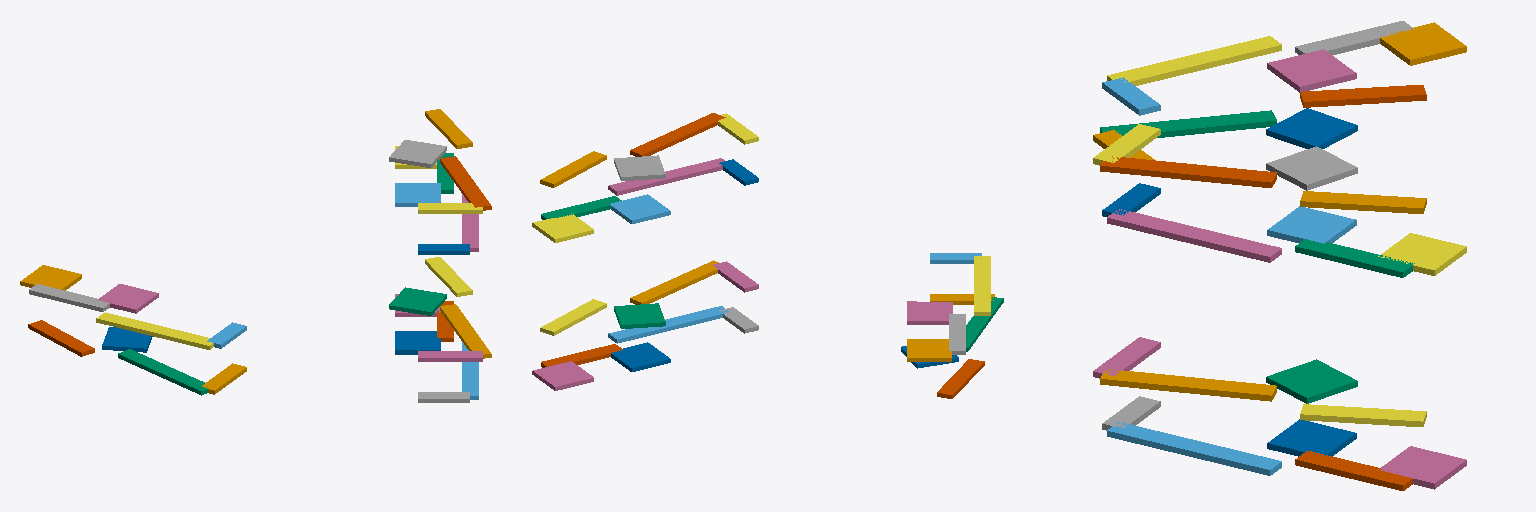
--- Render facts (derived) ---
The picture shows the robot from 3 angles, left to right: view 1: azimuth 30°, elevation 25°; view 2: azimuth 150°, elevation 25°; view 3: azimuth 270°, elevation 25°; orthographic projection.
Robot: ur5 — 51 links, 50 joints (45 revolute, 5 fixed); root link world; default pose: every joint at zero.
Links seen in each view (by area): view 1: r3f_finger_middle_link_paraproximal_bar, r3f_finger_middle_link_proximal_actuating_bar, r3f_finger_1_link_median_actuating_hinge, r3f_finger_2_link_median_actuating_hinge, r3f_finger_middle_link_paramedian_hinge, r3f_finger_2_link_proximal_actuating_bar, r3f_finger_2_link_paramedian_hinge, r3f_finger_1_link_proximal_actuating_bar, r3f_finger_1_link_paramedian_hinge, r3f_finger_middle_link_paradistal_hinge, r3f_finger_middle_link_median_bar_underactuated, r3f_finger_middle_link_median_actuating_hinge (+10 smaller); view 2: r3f_finger_1_link_paraproximal_bar, r3f_finger_2_link_paraproximal_bar, r3f_finger_2_link_proximal_actuating_bar, r3f_finger_1_link_proximal_actuating_bar, r3f_finger_1_link_paradistal_hinge, r3f_finger_2_link_paramedian_hinge, r3f_finger_2_link_paradistal_hinge, r3f_finger_1_link_paramedian_hinge, r3f_finger_2_link_median_actuating_hinge, r3f_finger_1_link_median_actuating_hinge, r3f_finger_middle_link_paramedian_hinge, r3f_finger_middle_link_paraproximal_bar (+10 smaller); view 3: r3f_finger_1_link_paraproximal_bar, r3f_finger_2_link_paraproximal_bar, r3f_finger_1_link_proximal_actuating_bar, r3f_finger_middle_link_paraproximal_bar, r3f_finger_2_link_proximal_actuating_bar, r3f_finger_2_link_median_actuating_hinge, r3f_finger_1_link_median_actuating_hinge, r3f_finger_middle_link_paramedian_hinge, r3f_finger_middle_link_median_actuating_hinge, r3f_finger_middle_link_paradistal_hinge, r3f_finger_middle_link_proximal_actuating_bar, r3f_finger_2_link_paramedian_hinge (+14 smaller).
Boxes of the visible links, x1,y1,x2,y2 form: r3f_finger_middle_link_paraproximal_bar: (96, 312, 213, 349); r3f_finger_middle_link_proximal_actuating_bar: (118, 349, 207, 395); r3f_finger_1_link_median_actuating_hinge: (389, 287, 446, 315); r3f_finger_2_link_median_actuating_hinge: (389, 140, 446, 167); r3f_finger_middle_link_paramedian_hinge: (98, 284, 158, 313); r3f_finger_2_link_proximal_actuating_bar: (440, 156, 491, 210); r3f_finger_2_link_paramedian_hinge: (395, 183, 440, 206); r3f_finger_1_link_proximal_actuating_bar: (440, 304, 491, 358); r3f_finger_1_link_paramedian_hinge: (395, 331, 440, 354); r3f_finger_middle_link_paradistal_hinge: (20, 265, 81, 290); r3f_finger_middle_link_median_bar_underactuated: (29, 284, 109, 311); r3f_finger_middle_link_median_actuating_hinge: (102, 327, 152, 352); r3f_finger_1_link_paraproximal_bar: (608, 306, 728, 343); r3f_finger_2_link_paraproximal_bar: (608, 158, 724, 195); r3f_finger_2_link_proximal_actuating_bar: (630, 113, 725, 156); r3f_finger_1_link_proximal_actuating_bar: (630, 260, 718, 304); r3f_finger_1_link_paradistal_hinge: (532, 361, 593, 390); r3f_finger_2_link_paramedian_hinge: (610, 194, 670, 223); r3f_finger_2_link_paradistal_hinge: (532, 213, 593, 242); r3f_finger_1_link_paramedian_hinge: (611, 342, 670, 371); r3f_finger_2_link_median_actuating_hinge: (614, 155, 665, 180); r3f_finger_1_link_median_actuating_hinge: (614, 303, 665, 328); r3f_finger_middle_link_paramedian_hinge: (907, 301, 952, 324); r3f_finger_middle_link_paraproximal_bar: (974, 256, 990, 315); r3f_finger_1_link_paraproximal_bar: (1107, 422, 1281, 475); r3f_finger_2_link_paraproximal_bar: (1107, 209, 1281, 262); r3f_finger_1_link_proximal_actuating_bar: (1100, 369, 1276, 401); r3f_finger_middle_link_paraproximal_bar: (1107, 36, 1281, 85); r3f_finger_2_link_proximal_actuating_bar: (1100, 156, 1276, 187); r3f_finger_2_link_median_actuating_hinge: (1266, 146, 1357, 190); r3f_finger_1_link_median_actuating_hinge: (1266, 359, 1357, 403); r3f_finger_middle_link_paramedian_hinge: (1267, 49, 1356, 92); r3f_finger_middle_link_median_actuating_hinge: (1266, 108, 1357, 148); r3f_finger_middle_link_paradistal_hinge: (1380, 22, 1466, 65); r3f_finger_middle_link_proximal_actuating_bar: (1100, 110, 1276, 137); r3f_finger_2_link_paramedian_hinge: (1267, 206, 1356, 243).
Size in the robot's own frame: 0.2168 by 0.1145 by 0.094 metres.
Meshes: 12 distinct files referenced, 0 mesh visuals loaded (none loaded); not drawn: 20 (reference not matched to a file when rendering).

URDF robot description (ur5):
<?xml version="1.0" encoding="utf-8"?>
<!-- =================================================================================== -->
<!-- |    This document was autogenerated by xacro from UR5_3f_2macro.xacro            | -->
<!-- |    EDITING THIS FILE BY HAND IS NOT RECOMMENDED                                 | -->
<!-- =================================================================================== -->
<robot name="ur5">
  <gazebo>
    <plugin filename="libgazebo_ros_control.so" name="ros_control">
      <!--robotNamespace>/</robotNamespace-->
      <!--robotSimType>gazebo_ros_control/DefaultRobotHWSim</robotSimType-->
    </plugin>
    <!--
    <plugin name="gazebo_ros_power_monitor_controller" filename="libgazebo_ros_power_monitor.so">
      <alwaysOn>true</alwaysOn>
      <updateRate>1.0</updateRate>
      <timeout>5</timeout>
      <powerStateTopic>power_state</powerStateTopic>
      <powerStateRate>10.0</powerStateRate>
      <fullChargeCapacity>87.78</fullChargeCapacity>     
      <dischargeRate>-474</dischargeRate>
      <chargeRate>525</chargeRate>
      <dischargeVoltage>15.52</dischargeVoltage>
      <chargeVoltage>16.41</chargeVoltage>
    </plugin>
-->
  </gazebo>
  <!-- measured from model -->
  <!--property name="shoulder_height" value="0.089159" /-->
  <!--property name="shoulder_offset" value="0.13585" /-->
  <!-- shoulder_offset - elbow_offset + wrist_1_length = 0.10915 -->
  <!--property name="upper_arm_length" value="0.42500" /-->
  <!--property name="elbow_offset" value="0.1197" /-->
  <!-- CAD measured -->
  <!--property name="forearm_length" value="0.39225" /-->
  <!--property name="wrist_1_length" value="0.093" /-->
  <!-- CAD measured -->
  <!--property name="wrist_2_length" value="0.09465" /-->
  <!-- In CAD this distance is 0.930, but in the spec it is 0.09465 -->
  <!--property name="wrist_3_length" value="0.0823" /-->
  <!-- manually measured -->
  <link name="base_link">
    <visual>
      <geometry>
        <mesh filename="package://ur_description/meshes/ur5/visual/base.dae"/>
      </geometry>
      <material name="LightGrey">
        <color rgba="0.7 0.7 0.7 1.0"/>
      </material>
    </visual>
    <collision>
      <geometry>
        <mesh filename="package://ur_description/meshes/ur5/collision/base.stl"/>
      </geometry>
    </collision>
    <inertial>
      <mass value="4.0"/>
      <origin rpy="0 0 0" xyz="0.0 0.0 0.0"/>
      <inertia ixx="0.00443333156" ixy="0.0" ixz="0.0" iyy="0.00443333156" iyz="0.0" izz="0.0072"/>
    </inertial>
  </link>
  <joint name="shoulder_pan_joint" type="revolute">
    <parent link="base_link"/>
    <child link="shoulder_link"/>
    <origin rpy="0.0 0.0 0.0" xyz="0.0 0.0 0.089159"/>
    <axis xyz="0 0 1"/>
    <limit effort="150.0" lower="-6.28318530718" upper="6.28318530718" velocity="3.15"/>
    <dynamics damping="0.0" friction="0.0"/>
  </joint>
  <link name="shoulder_link">
    <visual>
      <geometry>
        <mesh filename="package://ur_description/meshes/ur5/visual/shoulder.dae"/>
      </geometry>
      <material name="LightGrey">
        <color rgba="0.7 0.7 0.7 1.0"/>
      </material>
    </visual>
    <collision>
      <geometry>
        <mesh filename="package://ur_description/meshes/ur5/collision/shoulder.stl"/>
      </geometry>
    </collision>
    <inertial>
      <mass value="3.7"/>
      <origin rpy="0 0 0" xyz="0.0 0.0 0.0"/>
      <inertia ixx="0.010267495893" ixy="0.0" ixz="0.0" iyy="0.010267495893" iyz="0.0" izz="0.00666"/>
    </inertial>
  </link>
  <joint name="shoulder_lift_joint" type="revolute">
    <parent link="shoulder_link"/>
    <child link="upper_arm_link"/>
    <origin rpy="0.0 1.57079632679 0.0" xyz="0.0 0.13585 0.0"/>
    <axis xyz="0 1 0"/>
    <limit effort="150.0" lower="-6.28318530718" upper="6.28318530718" velocity="3.15"/>
    <dynamics damping="0.0" friction="0.0"/>
  </joint>
  <link name="upper_arm_link">
    <visual>
      <geometry>
        <mesh filename="package://ur_description/meshes/ur5/visual/upperarm.dae"/>
      </geometry>
      <material name="LightGrey">
        <color rgba="0.7 0.7 0.7 1.0"/>
      </material>
    </visual>
    <collision>
      <geometry>
        <mesh filename="package://ur_description/meshes/ur5/collision/upperarm.stl"/>
      </geometry>
    </collision>
    <inertial>
      <mass value="8.393"/>
      <origin rpy="0 0 0" xyz="0.0 0.0 0.28"/>
      <inertia ixx="0.22689067591" ixy="0.0" ixz="0.0" iyy="0.22689067591" iyz="0.0" izz="0.0151074"/>
    </inertial>
  </link>
  <joint name="elbow_joint" type="revolute">
    <parent link="upper_arm_link"/>
    <child link="forearm_link"/>
    <origin rpy="0.0 0.0 0.0" xyz="0.0 -0.1197 0.425"/>
    <axis xyz="0 1 0"/>
    <limit effort="150.0" lower="-3.14159265359" upper="3.14159265359" velocity="3.15"/>
    <dynamics damping="0.0" friction="0.0"/>
  </joint>
  <link name="forearm_link">
    <visual>
      <geometry>
        <mesh filename="package://ur_description/meshes/ur5/visual/forearm.dae"/>
      </geometry>
      <material name="LightGrey">
        <color rgba="0.7 0.7 0.7 1.0"/>
      </material>
    </visual>
    <collision>
      <geometry>
        <mesh filename="package://ur_description/meshes/ur5/collision/forearm.stl"/>
      </geometry>
    </collision>
    <inertial>
      <mass value="2.275"/>
      <origin rpy="0 0 0" xyz="0.0 0.0 0.196125"/>
      <inertia ixx="0.0312167910289" ixy="0.0" ixz="0.0" iyy="0.0312167910289" iyz="0.0" izz="0.004095"/>
    </inertial>
  </link>
  <joint name="wrist_1_joint" type="revolute">
    <parent link="forearm_link"/>
    <child link="wrist_1_link"/>
    <origin rpy="0.0 1.57079632679 0.0" xyz="0.0 0.0 0.39225"/>
    <axis xyz="0 1 0"/>
    <limit effort="28.0" lower="-6.28318530718" upper="6.28318530718" velocity="3.2"/>
    <dynamics damping="0.0" friction="0.0"/>
  </joint>
  <link name="wrist_1_link">
    <visual>
      <geometry>
        <mesh filename="package://ur_description/meshes/ur5/visual/wrist1.dae"/>
      </geometry>
      <material name="LightGrey">
        <color rgba="0.7 0.7 0.7 1.0"/>
      </material>
    </visual>
    <collision>
      <geometry>
        <mesh filename="package://ur_description/meshes/ur5/collision/wrist1.stl"/>
      </geometry>
    </collision>
    <inertial>
      <mass value="1.219"/>
      <origin rpy="0 0 0" xyz="0.0 0.093 0.0"/>
      <inertia ixx="0.00255989897604" ixy="0.0" ixz="0.0" iyy="0.00255989897604" iyz="0.0" izz="0.0021942"/>
    </inertial>
  </link>
  <joint name="wrist_2_joint" type="revolute">
    <parent link="wrist_1_link"/>
    <child link="wrist_2_link"/>
    <origin rpy="0.0 0.0 0.0" xyz="0.0 0.093 0.0"/>
    <axis xyz="0 0 1"/>
    <limit effort="28.0" lower="-6.28318530718" upper="6.28318530718" velocity="3.2"/>
    <dynamics damping="0.0" friction="0.0"/>
  </joint>
  <link name="wrist_2_link">
    <visual>
      <geometry>
        <mesh filename="package://ur_description/meshes/ur5/visual/wrist2.dae"/>
      </geometry>
      <material name="LightGrey">
        <color rgba="0.7 0.7 0.7 1.0"/>
      </material>
    </visual>
    <collision>
      <geometry>
        <mesh filename="package://ur_description/meshes/ur5/collision/wrist2.stl"/>
      </geometry>
    </collision>
    <inertial>
      <mass value="1.219"/>
      <origin rpy="0 0 0" xyz="0.0 0.0 0.09465"/>
      <inertia ixx="0.00255989897604" ixy="0.0" ixz="0.0" iyy="0.00255989897604" iyz="0.0" izz="0.0021942"/>
    </inertial>
  </link>
  <joint name="wrist_3_joint" type="revolute">
    <parent link="wrist_2_link"/>
    <child link="wrist_3_link"/>
    <origin rpy="0.0 0.0 0.0" xyz="0.0 0.0 0.09465"/>
    <axis xyz="0 1 0"/>
    <limit effort="28.0" lower="-6.28318530718" upper="6.28318530718" velocity="3.2"/>
    <dynamics damping="0.0" friction="0.0"/>
  </joint>
  <link name="wrist_3_link">
    <visual>
      <geometry>
        <mesh filename="package://ur_description/meshes/ur5/visual/wrist3.dae"/>
      </geometry>
      <material name="LightGrey">
        <color rgba="0.7 0.7 0.7 1.0"/>
      </material>
    </visual>
    <collision>
      <geometry>
        <mesh filename="package://ur_description/meshes/ur5/collision/wrist3.stl"/>
      </geometry>
    </collision>
    <inertial>
      <mass value="0.1879"/>
      <origin rpy="1.57079632679 0 0" xyz="0.0 0.06505 0.0"/>
      <inertia ixx="8.46958911216e-05" ixy="0.0" ixz="0.0" iyy="8.46958911216e-05" iyz="0.0" izz="0.0001321171875"/>
    </inertial>
  </link>
  <joint name="ee_fixed_joint" type="fixed">
    <parent link="wrist_3_link"/>
    <child link="ee_link"/>
    <origin rpy="0.0 0.0 1.57079632679" xyz="0.0 0.0823 0.0"/>
  </joint>
  <link name="ee_link">
    <collision>
      <geometry>
        <box size="0.01 0.01 0.01"/>
      </geometry>
      <origin rpy="0 0 0" xyz="-0.01 0 0"/>
    </collision>
  </link>
  <transmission name="shoulder_pan_trans">
    <type>transmission_interface/SimpleTransmission</type>
    <joint name="shoulder_pan_joint">
      <hardwareInterface>hardware_interface/PositionJointInterface</hardwareInterface>
    </joint>
    <actuator name="shoulder_pan_motor">
      <mechanicalReduction>1</mechanicalReduction>
    </actuator>
  </transmission>
  <transmission name="shoulder_lift_trans">
    <type>transmission_interface/SimpleTransmission</type>
    <joint name="shoulder_lift_joint">
      <hardwareInterface>hardware_interface/PositionJointInterface</hardwareInterface>
    </joint>
    <actuator name="shoulder_lift_motor">
      <mechanicalReduction>1</mechanicalReduction>
    </actuator>
  </transmission>
  <transmission name="elbow_trans">
    <type>transmission_interface/SimpleTransmission</type>
    <joint name="elbow_joint">
      <hardwareInterface>hardware_interface/PositionJointInterface</hardwareInterface>
    </joint>
    <actuator name="elbow_motor">
      <mechanicalReduction>1</mechanicalReduction>
    </actuator>
  </transmission>
  <transmission name="wrist_1_trans">
    <type>transmission_interface/SimpleTransmission</type>
    <joint name="wrist_1_joint">
      <hardwareInterface>hardware_interface/PositionJointInterface</hardwareInterface>
    </joint>
    <actuator name="wrist_1_motor">
      <mechanicalReduction>1</mechanicalReduction>
    </actuator>
  </transmission>
  <transmission name="wrist_2_trans">
    <type>transmission_interface/SimpleTransmission</type>
    <joint name="wrist_2_joint">
      <hardwareInterface>hardware_interface/PositionJointInterface</hardwareInterface>
    </joint>
    <actuator name="wrist_2_motor">
      <mechanicalReduction>1</mechanicalReduction>
    </actuator>
  </transmission>
  <transmission name="wrist_3_trans">
    <type>transmission_interface/SimpleTransmission</type>
    <joint name="wrist_3_joint">
      <hardwareInterface>hardware_interface/PositionJointInterface</hardwareInterface>
    </joint>
    <actuator name="wrist_3_motor">
      <mechanicalReduction>1</mechanicalReduction>
    </actuator>
  </transmission>
  <gazebo reference="shoulder_link">
    <selfCollide>true</selfCollide>
  </gazebo>
  <gazebo reference="upper_arm_link">
    <selfCollide>true</selfCollide>
  </gazebo>
  <gazebo reference="forearm_link">
    <selfCollide>true</selfCollide>
  </gazebo>
  <gazebo reference="wrist_1_link">
    <selfCollide>true</selfCollide>
  </gazebo>
  <gazebo reference="wrist_3_link">
    <selfCollide>true</selfCollide>
  </gazebo>
  <gazebo reference="wrist_2_link">
    <selfCollide>true</selfCollide>
  </gazebo>
  <gazebo reference="ee_link">
    <selfCollide>true</selfCollide>
  </gazebo>
  <!-- ROS base_link to UR 'Base' Coordinates transform -->
  <link name="base"/>
  <joint name="base_link-base_fixed_joint" type="fixed">
    <!-- NOTE: this rotation is only needed as long as base_link itself is
                 not corrected wrt the real robot (ie: rotated over 180
                 degrees)
      -->
    <origin rpy="0 0 -3.14159265359" xyz="0 0 0"/>
    <parent link="base_link"/>
    <child link="base"/>
  </joint>
  <!-- Frame coincident with all-zeros TCP on UR controller -->
  <link name="tool0"/>
  <joint name="wrist_3_link-tool0_fixed_joint" type="fixed">
    <origin rpy="-1.57079632679 0 0" xyz="0 0.0823 0"/>
    <parent link="wrist_3_link"/>
    <child link="tool0"/>
  </joint>
  <!-- joint attaching parent link to robotiq hand -->
  <joint name="r3f_robotiq_hand_joint" type="fixed">
    <origin rpy="1.57079632679 0 0" xyz="0 0 0.05"/>
    <parent link="tool0"/>
    <child link="r3f_palm"/>
  </joint>
  <!-- Link list -->
  <!-- Link 0 -->
  <link name="r3f_finger_1_link_0">
    <visual>
      <origin rpy="0 0 0" xyz="0 0 0"/>
      <geometry>
        <mesh filename="package://robotiq_3f_gripper_visualization/meshes/robotiq-3f-gripper_articulated/visual/link_0.dae"/>
      </geometry>
      <material name="green">
        <color rgba="0 1 0 1"/>
      </material>
    </visual>
    <collision>
      <origin rpy="0 0 0" xyz="0 0 0"/>
      <geometry>
        <mesh filename="package://robotiq_3f_gripper_visualization/meshes/robotiq-3f-gripper_articulated/collision/link_0.STL"/>
      </geometry>
      <material name="yellow">
        <color rgba="0 1 1 1"/>
      </material>
    </collision>
    <inertial>
      <mass value="0.1"/>
      <origin xyz="-0.01 0 0"/>
      <inertia ixx="0.000018" ixy="0" ixz="0" iyy="0.000025" iyz="0" izz="0.000025"/>
    </inertial>
  </link>
  <gazebo reference="r3f_finger_1_link_0">
    <mu1>1.1</mu1>
    <mu2>1.1</mu2>
  </gazebo>
  <!-- Link 1 -->
  <link name="r3f_finger_1_link_1">
    <visual>
      <origin rpy="0 0 1.5708" xyz="0 0.05717 0"/>
      <geometry>
        <mesh filename="package://robotiq_3f_gripper_visualization/meshes/robotiq-3f-gripper_articulated/visual/link_1.dae"/>
      </geometry>
      <material name="green"/>
    </visual>
    <collision>
      <origin rpy="0 0 1.5708" xyz="0 0.05717 0"/>
      <geometry>
        <mesh filename="package://robotiq_3f_gripper_visualization/meshes/robotiq-3f-gripper_articulated/collision/link_1.STL"/>
      </geometry>
      <material name="yellow">
        <color rgba="0 1 1 1"/>
      </material>
    </collision>
    <inertial>
      <origin rpy="0 0 1.5708" xyz="0.00053 0.03218 0"/>
      <mass value="0.047"/>
      <inertia ixx="0.00000499332" ixy="0.00000091312" ixz="-0.00000000120" iyy="0.00006434531" iyz="-0.00000000007" izz="0.00006061917"/>
    </inertial>
  </link>
  <gazebo reference="r3f_finger_1_link_1">
    <mu1>1.1</mu1>
    <mu2>1.1</mu2>
  </gazebo>
  <!-- Link 2 -->
  <link name="r3f_finger_1_link_2">
    <visual>
      <origin rpy="0 0 1.5708" xyz="0 0.03810 0.0075"/>
      <geometry>
        <mesh filename="package://robotiq_3f_gripper_visualization/meshes/robotiq-3f-gripper_articulated/visual/link_2.dae"/>
      </geometry>
      <material name="green"/>
    </visual>
    <collision>
      <origin rpy="0 0 1.5708" xyz="0 0.03810 0.0075"/>
      <geometry>
        <mesh filename="package://robotiq_3f_gripper_visualization/meshes/robotiq-3f-gripper_articulated/collision/link_2.STL"/>
      </geometry>
      <material name="yellow"/>
    </collision>
    <inertial>
      <origin rpy="0 0 1.5708" xyz="0.00048 0.02167 0.00018"/>
      <mass value="0.03284"/>
      <inertia ixx="0.00000348008" ixy="0.00000031940" ixz="0.00000013041" iyy="0.00002248123" iyz="0.00000000291" izz="0.00001986346"/>
    </inertial>
  </link>
  <gazebo reference="r3f_finger_1_link_2">
    <mu1>1.1</mu1>
    <mu2>1.1</mu2>
  </gazebo>
  <!-- Link 3 -->
  <link name="r3f_finger_1_link_3">
    <visual>
      <origin rpy="0 0 0" xyz="0 0 0"/>
      <geometry>
        <mesh filename="package://robotiq_3f_gripper_visualization/meshes/robotiq-3f-gripper_articulated/visual/link_3.dae"/>
      </geometry>
      <material name="green"/>
    </visual>
    <collision>
      <origin rpy="0 0 0" xyz="0 0 0"/>
      <geometry>
        <mesh filename="package://robotiq_3f_gripper_visualization/meshes/robotiq-3f-gripper_articulated/collision/link_3.STL"/>
      </geometry>
      <material name="yellow"/>
    </collision>
    <inertial>
      <origin rpy="0 0 0" xyz="0.01626 0.00049 0.0002"/>
      <mass value="0.03354"/>
      <inertia ixx="0.00000305151" ixy="0.00000089792" ixz="0.00000000249" iyy="0.00001427978" iyz="-0.00000001191" izz="0.00001264126"/>
    </inertial>
  </link>
  <gazebo reference="r3f_finger_1_link_3">
    <mu1>1.1</mu1>
    <mu2>1.1</mu2>
  </gazebo>
  <!-- Link proximal actuating hinge -->
  <link name="r3f_finger_1_link_proximal_actuating_hinge">
    <visual>
      <origin rpy="0 0 0" xyz="0.01429 0 0"/>
      <geometry>
        <box size="0.02858 .0075 .002"/>
      </geometry>
    </visual>
    <collision>
      <origin rpy="0 0 0" xyz="0.01429 0 0"/>
      <geometry>
        <box size="0.02858 .0075 .002"/>
      </geometry>
    </collision>
    <inertial>
      <origin rpy="0 0 0" xyz="0.0012 -0.00162 -0.00161"/>
      <mass value="0.02647"/>
      <inertia ixx="0.00000156447" ixy="0.000000236226" ixz="-0.00000014862" iyy="0.00000221068" iyz="-0.00000014369" izz="0.00000323175"/>
    </inertial>
  </link>
  <gazebo reference="r3f_finger_1_link_proximal_actuating_hinge">
    <mu1>1.1</mu1>
    <mu2>1.1</mu2>
  </gazebo>
  <!-- Link paraproximal actuating hinge -->
  <link name="r3f_finger_1_link_paraproximal_actuating_hinge">
    <visual>
      <origin rpy="0 0 0" xyz="0.01143 0 0"/>
      <geometry>
        <box size="0.02286 .0075 .002"/>
      </geometry>
    </visual>
    <collision>
      <origin rpy="0 0 0" xyz="0.01143 0 0"/>
      <geometry>
        <box size="0.02286 .0075 .002"/>
      </geometry>
    </collision>
    <inertial>
      <origin rpy="0 0 0" xyz="0.0064 0 0"/>
      <!-- copied from proximal_actuating_hinge -->
      <mass value="0.00362"/>
      <inertia ixx="0.00000012043" ixy="0" ixz="0" iyy="0.00000053588" iyz="0" izz="0.00000065322"/>
    </inertial>
  </link>
  <gazebo reference="r3f_finger_1_link_paraproximal_actuating_hinge">
    <mu1>1.1</mu1>
    <mu2>1.1</mu2>
  </gazebo>
  <!-- Link proximal actuating bar -->
  <link name="r3f_finger_1_link_proximal_actuating_bar">
    <visual>
      <origin rpy="0 0 0" xyz="0.026789 0 0"/>
      <geometry>
        <box size="0.05398 .0075 .002"/>
      </geometry>
    </visual>
    <collision>
      <origin rpy="0 0 0" xyz="0.026789 0 0"/>
      <geometry>
        <box size="0.05398 .0075 .002"/>
      </geometry>
    </collision>
    <inertial>
      <origin rpy="0 0 0" xyz="0.02699 -0.00122 0"/>
      <mass value="0.00659"/>
      <inertia ixx="0.00000008348" ixy="-0.0000002179" ixz="0.00000000134" iyy="0.00000719076" iyz="0" izz="0.00000718272"/>
    </inertial>
  </link>
  <gazebo reference="r3f_finger_1_link_proximal_actuating_bar">
    <mu1>1.1</mu1>
    <mu2>1.1</mu2>
  </gazebo>
  <!-- Link paraproximal bar -->
  <link name="r3f_finger_1_link_paraproximal_bar">
    <visual>
      <origin rpy="0 0 0" xyz="0.02885 0 0"/>
      <geometry>
        <box size="0.05770 .0075 .002"/>
      </geometry>
    </visual>
    <collision>
      <origin rpy="0 0 0" xyz="0.02885 0 0"/>
      <geometry>
        <box size="0.05770 .0075 .002"/>
      </geometry>
    </collision>
    <inertial>
      <origin rpy="0 0 0" xyz="0.02858 -0.00129 0"/>
      <mass value="0.00732"/>
      <inertia ixx="0.00000009065" ixy="-0.00000027047" ixz="0.00000000142" iyy="0.00000878034" iyz="0" izz="0.00000877558"/>
    </inertial>
  </link>
  <gazebo reference="r3f_finger_1_link_paraproximal_bar">
    <mu1>1.1</mu1>
    <mu2>1.1</mu2>
  </gazebo>
  <!-- Link median actuating hinge -->
  <link name="r3f_finger_1_link_median_actuating_hinge">
    <visual>
      <origin rpy="0 0 0" xyz="0 0 0"/>
      <geometry>
        <box size=".02 .02 .002"/>
      </geometry>
    </visual>
    <collision>
      <origin rpy="0 0 0" xyz="0 0 0"/>
      <geometry>
        <box size=".02 .02 .002"/>
      </geometry>
    </collision>
    <inertial>
      <origin rpy="0 0 0" xyz="0.0092 0.00514 0"/>
      <mass value="0.00359"/>
      <inertia ixx="0.00000024735" ixy="0.00000023619" ixz="0" iyy="0.00000047681" iyz="0" izz="0.00000071813"/>
    </inertial>
  </link>
  <gazebo reference="r3f_finger_1_link_median_actuating_hinge">
    <mu1>1.1</mu1>
    <mu2>1.1</mu2>
  </gazebo>
  <!-- Link median bar -->
  <link name="r3f_finger_1_link_median_bar">
    <visual>
      <origin rpy="0 0 0" xyz="0.01905 0 0"/>
      <geometry>
        <box size="0.0381 .0075 .002"/>
      </geometry>
    </visual>
    <collision>
      <origin rpy="0 0 0" xyz="0.01905 0 0"/>
      <geometry>
        <box size="0.0381 .0075 .002"/>
      </geometry>
    </collision>
    <inertial>
      <origin rpy="0 0 0" xyz="0.01905 -0.00107 0"/>
      <mass value="0.00538"/>
      <inertia ixx="0.00000006639" ixy="-0.00000010996" ixz="0.00000000094" iyy="0.00000305318" iyz="0" izz="0.00000304657"/>
    </inertial>
  </link>
  <gazebo reference="r3f_finger_1_link_median_bar">
    <mu1>1.1</mu1>
    <mu2>1.1</mu2>
  </gazebo>
  <!-- Link paramedian hinge -->
  <link name="r3f_finger_1_link_paramedian_hinge">
    <visual>
      <origin rpy="0 0 0" xyz="0 0 0"/>
      <geometry>
        <box size=".02 .02 .002"/>
      </geometry>
    </visual>
    <collision>
      <origin rpy="0 0 0" xyz="0 0 0"/>
      <geometry>
        <box size=".02 .02 .002"/>
      </geometry>
    </collision>
    <inertial>
      <origin rpy="0 0 0" xyz="-0.01025 0.00046 0"/>
      <mass value="0.00276"/>
      <inertia ixx="0.00000004213" ixy="-0.00000001491" ixz="0" iyy="0.00000050258" iyz="0" izz="0.00000054007"/>
    </inertial>
  </link>
  <gazebo reference="r3f_finger_1_link_paramedian_hinge">
    <mu1>1.1</mu1>
    <mu2>1.1</mu2>
  </gazebo>
  <!-- Link median bar underactuated -->
  <link name="r3f_finger_1_link_median_bar_underactuated">
    <visual>
      <origin rpy="0 0 0" xyz="0.01905 0 0"/>
      <geometry>
        <box size="0.0381 .0075 .002"/>
      </geometry>
    </visual>
    <collision>
      <origin rpy="0 0 0" xyz="0.01905 0 0"/>
      <geometry>
        <box size="0.0381 .0075 .002"/>
      </geometry>
    </collision>
    <inertial>
      <origin rpy="0 0 0" xyz="0.01905 -0.00107 0"/>
      <mass value="0.00538"/>
      <inertia ixx="0.00000006639" ixy="-0.00000010996" ixz="-0.00000000094" iyy="0.00000305318" iyz="0" izz="0.00000304657"/>
    </inertial>
  </link>
  <gazebo reference="r3f_finger_1_link_median_bar_underactuated">
    <mu1>1.1</mu1>
    <mu2>1.1</mu2>
  </gazebo>
  <!-- Link paradistal hinge -->
  <link name="r3f_finger_1_link_paradistal_hinge">
    <visual>
      <origin rpy="0 0 0" xyz="0 0 0"/>
      <geometry>
        <box size=".02 .02 .002"/>
      </geometry>
    </visual>
    <collision>
      <origin rpy="0 0 0" xyz="0 0 0"/>
      <geometry>
        <box size=".02 0.02 .002"/>
      </geometry>
    </collision>
    <inertial>
      <origin rpy="0 0 0" xyz="0.00548 0 0"/>
      <mass value="0.00158"/>
      <inertia ixx="0.00000001907" ixy="0" ixz="0" iyy="0.00000010970" iyz="0" izz="0.00000012610"/>
    </inertial>
  </link>
  <gazebo reference="r3f_finger_1_link_paradistal_hinge">
    <mu1>1.1</mu1>
    <mu2>1.1</mu2>
  </gazebo>
  <!-- End of link list -->
  <!-- Joint list -->
  <!-- Joint proximal actuating hinge -->
  <joint name="r3f_finger_1_joint_proximal_actuating_hinge" type="revolute">
    <parent link="r3f_finger_1_link_0"/>
    <child link="r3f_finger_1_link_proximal_actuating_hinge"/>
    <axis xyz="0 0 1"/>
    <origin rpy="0 0 -2.0906" xyz="0 0 0.01"/>
    <limit effort="100" lower="-3.1416" upper="3.1416" velocity="100"/>
  </joint>
  <gazebo reference="r3f_finger_1_joint_proximal_actuating_hinge">
    <implicitSpringDamper>1</implicitSpringDamper>
  </gazebo>
  <!-- Joint paraproximal actuating hinge -->
  <joint name="r3f_finger_1_joint_paraproximal_actuating_hinge" type="revolute">
    <parent link="r3f_finger_1_link_0"/>
    <child link="r3f_finger_1_link_paraproximal_actuating_hinge"/>
    <axis xyz="0 0 1"/>
    <origin rpy="0 0 -2.0906" xyz="0 0 -0.01"/>
    <limit effort="100" lower="-3.1416" upper="3.1416" velocity="100"/>
  </joint>
  <gazebo reference="r3f_finger_1_joint_paraproximal_actuating_hinge">
    <implicitSpringDamper>1</implicitSpringDamper>
  </gazebo>
  <!-- Joint proximal actuating bar -->
  <joint name="r3f_finger_1_joint_proximal_actuating_bar" type="revolute">
    <parent link="r3f_finger_1_link_proximal_actuating_hinge"/>
    <child link="r3f_finger_1_link_proximal_actuating_bar"/>
    <axis xyz="0 0 1"/>
    <origin rpy="0 0 1.8616" xyz="0.02858 0 0"/>
    <limit effort="100" lower="-3.1416" upper="3.1416" velocity="100"/>
  </joint>
  <gazebo reference="r3f_finger_1_joint_proximal_actuating_bar">
    <implicitSpringDamper>1</implicitSpringDamper>
  </gazebo>
  <!-- Joint paraproximal bar -->
  <joint name="r3f_finger_1_joint_paraproximal_bar" type="revolute">
    <parent link="r3f_finger_1_link_paraproximal_actuating_hinge"/>
    <child link="r3f_finger_1_link_paraproximal_bar"/>
    <axis xyz="0 0 1"/>
    <origin rpy="0 0 1.57" xyz="0.02286 0 0"/>
    <limit effort="100" lower="-3.1416" upper="3.1416" velocity="100"/>
  </joint>
  <gazebo reference="r3f_finger_1_joint_paraproximal_bar">
    <implicitSpringDamper>1</implicitSpringDamper>
  </gazebo>
  <!-- Joint median actuating hinge -->
  <joint name="r3f_finger_1_joint_median_actuating_hinge" type="revolute">
    <parent link="r3f_finger_1_link_1"/>
    <child link="r3f_finger_1_link_median_actuating_hinge"/>
    <axis xyz="0 0 1"/>
    <origin rpy="0 0 -0.37" xyz="0 0.05715 0.01"/>
    <limit effort="100" lower="-3.1416" upper="3.1416" velocity="100"/>
  </joint>
  <gazebo reference="r3f_finger_1_joint_median_actuating_hinge">
    <implicitSpringDamper>1</implicitSpringDamper>
  </gazebo>
  <!-- Joint paramedian hinge -->
  <joint name="r3f_finger_1_joint_paramedian_hinge" type="revolute">
    <parent link="r3f_finger_1_link_1"/>
    <child link="r3f_finger_1_link_paramedian_hinge"/>
    <axis xyz="0 0 1"/>
    <!-- -0.37 is hand picked, 0.9719 is hand calculated from atan(0.02381/0.01625) -->
    <origin rpy="0 0 0" xyz="0 0.05715 -0.01"/>
    <limit effort="100" lower="-3.1416" upper="3.1416" velocity="100"/>
  </joint>
  <gazebo reference="r3f_finger_1_joint_paramedian_hinge">
    <implicitSpringDamper>1</implicitSpringDamper>
  </gazebo>
  <!-- Joint median actuating hinge median bar -->
  <joint name="r3f_finger_1_joint_median_actuating_hinge_median_bar" type="revolute">
    <parent link="r3f_finger_1_link_median_actuating_hinge"/>
    <child link="r3f_finger_1_link_median_bar"/>
    <axis xyz="0 0 1"/>
    <!-- hand calc 90 deg + atan(0.01516/0.01625) -->
    <origin rpy="0 0 2.3215" xyz="0.01625 0.01516 0"/>
    <limit effort="100" lower="-3.1416" upper="3.1416" velocity="100"/>
  </joint>
  <gazebo reference="r3f_finger_1_joint_median_actuating_hinge_median_bar">
    <implicitSpringDamper>1</implicitSpringDamper>
  </gazebo>
  <!-- Joint paradistal hinge -->
  <joint name="r3f_finger_1_joint_paradistal_hinge" type="revolute">
    <parent link="r3f_finger_1_link_2"/>
    <child link="r3f_finger_1_link_paradistal_hinge"/>
    <axis xyz="0 0 1"/>
    <origin rpy="0 0 0" xyz="0 0.039 -0.01"/>
    <limit effort="100" lower="-3.1416" upper="3.1416" velocity="100"/>
  </joint>
  <gazebo reference="r3f_finger_1_joint_paradistal_hinge">
    <implicitSpringDamper>1</implicitSpringDamper>
  </gazebo>
  <!-- Joint paramedian hinge median bar underactuated -->
  <joint name="r3f_finger_1_joint_paramedian_hinge_median_bar_underactuated" type="revolute">
    <parent link="r3f_finger_1_link_paramedian_hinge"/>
    <child link="r3f_finger_1_link_median_bar_underactuated"/>
    <axis xyz="0 0 1"/>
    <!-- hand calc 90 deg + atan(0.01227/0.00329) -->
    <origin rpy="0 0 1.5708" xyz="0.01227 0.00329 0"/>
    <limit effort="100" lower="-3.1416" upper="3.1416" velocity="100"/>
  </joint>
  <gazebo reference="r3f_finger_1_joint_paramedian_hinge_median_bar_underactuated">
    <implicitSpringDamper>1</implicitSpringDamper>
  </gazebo>
  <!-- Joint 1 -->
  <joint name="r3f_finger_1_joint_1" type="revolute">
    <origin rpy="0 0 -2.0906" xyz="0 0 0"/>
    <axis xyz="0 0 1"/>
    <parent link="r3f_finger_1_link_0"/>
    <child link="r3f_finger_1_link_1"/>
    <dynamics damping="1" friction="0"/>
    <!-- Limits: [0deg.,70deg.] -->
    <limit effort="60" lower="0" upper="1.2217" velocity="-1"/>
  </joint>
  <gazebo reference="r3f_finger_1_joint_1">
    <implicitSpringDamper>1</implicitSpringDamper>
  </gazebo>
  <!-- Joint 2 -->
  <joint name="r3f_finger_1_joint_2" type="revolute">
    <parent link="r3f_finger_1_link_1"/>
    <child link="r3f_finger_1_link_2"/>
    <dynamics damping="1" friction="0"/>
    <axis xyz="0 0 1"/>
    <origin rpy="0 0 0" xyz="0 0.05715 0"/>
    <!-- Limits: [0deg.,90deg.] -->
    <limit effort="60" lower="0" upper="1.5708" velocity="-1"/>
  </joint>
  <gazebo reference="r3f_finger_1_joint_2">
    <implicitSpringDamper>1</implicitSpringDamper>
  </gazebo>
  <!-- Joint 3 -->
  <joint name="r3f_finger_1_joint_3" type="revolute">
    <parent link="r3f_finger_1_link_2"/>
    <child link="r3f_finger_1_link_3"/>
    <dynamics damping="1" friction="0"/>
    <axis xyz="0 0 1"/>
    <origin rpy="0 0 2.0906" xyz="0 0.039 0"/>
    <!-- Limits: [-38deg.,60deg.] -->
    <limit effort="60" lower="-0.6632" upper="1.0471" velocity="-1"/>
  </joint>
  <gazebo reference="r3f_finger_1_joint_3">
    <implicitSpringDamper>1</implicitSpringDamper>
  </gazebo>
  <!-- end of joint list -->
  <!-- coupling joints in sdf -->
  <gazebo>
    <joint name="r3f_finger_1_link_proximal_actuating_bar_median_actuating_hinge_couple" type="revolute">
      <parent>r3f_finger_1_link_median_actuating_hinge</parent>
      <child>r3f_finger_1_link_proximal_actuating_bar</child>
      <pose>0.05398 0 0 0 0 0</pose>
      <axis>
        <dynamics>
          <damping>0</damping>
          <friction>0</friction>
        </dynamics>
        <xyz>0 0 1</xyz>
        <!-- <use_parent_model_frame>false</use_parent_model_frame> -->
      </axis>
    </joint>
  </gazebo>
  <gazebo reference="r3f_finger_1_link_proximal_actuating_bar_median_actuating_hinge_couple">
    <implicitSpringDamper>1</implicitSpringDamper>
  </gazebo>
  <gazebo>
    <joint name="r3f_finger_1_link_median_bar_link_3_couple" type="revolute">
      <parent>r3f_finger_1_link_3</parent>
      <child>r3f_finger_1_link_median_bar</child>
      <pose>0.0381 0 0 0 0 0</pose>
      <axis>
        <dynamics>
          <damping>0</damping>
          <friction>0</friction>
        </dynamics>
        <xyz>0 0 1</xyz>
        <!-- <use_parent_model_frame>false</use_parent_model_frame> -->
      </axis>
    </joint>
  </gazebo>
  <gazebo reference="r3f_finger_1_link_median_bar_link_3_couple">
    <implicitSpringDamper>1</implicitSpringDamper>
  </gazebo>
  <gazebo>
    <joint name="r3f_finger_1_link_paramedian_bar_paradistal_hinge_couple" type="revolute">
      <parent>r3f_finger_1_link_paradistal_hinge</parent>
      <child>r3f_finger_1_link_median_bar_underactuated</child>
      <pose>0.0381 0 0 0 0 0</pose>
      <axis>
        <dynamics>
          <damping>0</damping>
          <friction>0</friction>
        </dynamics>
        <xyz>0 0 1</xyz>
        <!-- <use_parent_model_frame>false</use_parent_model_frame> -->
      </axis>
    </joint>
  </gazebo>
  <gazebo reference="r3f_finger_1_link_median_bar_link_3_couple">
    <implicitSpringDamper>1</implicitSpringDamper>
  </gazebo>
  <gazebo>
    <joint name="r3f_finger_1_link_paradistal_hinge_link_3_couple" type="revolute">
      <parent>r3f_finger_1_link_paradistal_hinge</parent>
      <child>r3f_finger_1_link_3</child>
      <pose>0.0381 0 0 0 0 0</pose>
      <axis>
        <dynamics>
          <damping>0</damping>
          <friction>0</friction>
        </dynamics>
        <xyz>0 0 1</xyz>
        <!-- <use_parent_model_frame>false</use_parent_model_frame> -->
      </axis>
    </joint>
  </gazebo>
  <gazebo reference="r3f_finger_1_link_paradistal_hinge_link_3_couple">
    <implicitSpringDamper>1</implicitSpringDamper>
  </gazebo>
  <gazebo>
    <joint name="r3f_finger_1_link_paraproximal_bar_paramedian_hinge_couple" type="revolute">
      <parent>r3f_finger_1_link_paramedian_hinge</parent>
      <child>r3f_finger_1_link_paraproximal_bar</child>
      <pose>0.05770 0 0 0 0 0</pose>
      <axis>
        <dynamics>
          <damping>0</damping>
          <friction>0</friction>
        </dynamics>
        <xyz>0 0 1</xyz>
        <!-- <use_parent_model_frame>false</use_parent_model_frame> -->
      </axis>
    </joint>
  </gazebo>
  <gazebo reference="r3f_finger_1_link_paraproximal_bar_paramedian_hinge_couple">
    <implicitSpringDamper>1</implicitSpringDamper>
  </gazebo>
  <!-- Link list -->
  <!-- Link 0 -->
  <link name="r3f_finger_2_link_0">
    <visual>
      <origin rpy="0 0 0" xyz="0 0 0"/>
      <geometry>
        <mesh filename="package://robotiq_3f_gripper_visualization/meshes/robotiq-3f-gripper_articulated/visual/link_0.dae"/>
      </geometry>
      <material name="green">
        <color rgba="0 1 0 1"/>
      </material>
    </visual>
    <collision>
      <origin rpy="0 0 0" xyz="0 0 0"/>
      <geometry>
        <mesh filename="package://robotiq_3f_gripper_visualization/meshes/robotiq-3f-gripper_articulated/collision/link_0.STL"/>
      </geometry>
      <material name="yellow">
        <color rgba="0 1 1 1"/>
      </material>
    </collision>
    <inertial>
      <mass value="0.1"/>
      <origin xyz="-0.01 0 0"/>
      <inertia ixx="0.000018" ixy="0" ixz="0" iyy="0.000025" iyz="0" izz="0.000025"/>
    </inertial>
  </link>
  <gazebo reference="r3f_finger_2_link_0">
    <mu1>1.1</mu1>
    <mu2>1.1</mu2>
  </gazebo>
  <!-- Link 1 -->
  <link name="r3f_finger_2_link_1">
    <visual>
      <origin rpy="0 0 1.5708" xyz="0 0.05717 0"/>
      <geometry>
        <mesh filename="package://robotiq_3f_gripper_visualization/meshes/robotiq-3f-gripper_articulated/visual/link_1.dae"/>
      </geometry>
      <material name="green"/>
    </visual>
    <collision>
      <origin rpy="0 0 1.5708" xyz="0 0.05717 0"/>
      <geometry>
        <mesh filename="package://robotiq_3f_gripper_visualization/meshes/robotiq-3f-gripper_articulated/collision/link_1.STL"/>
      </geometry>
      <material name="yellow">
        <color rgba="0 1 1 1"/>
      </material>
    </collision>
    <inertial>
      <origin rpy="0 0 1.5708" xyz="0.00053 0.03218 0"/>
      <mass value="0.047"/>
      <inertia ixx="0.00000499332" ixy="0.00000091312" ixz="-0.00000000120" iyy="0.00006434531" iyz="-0.00000000007" izz="0.00006061917"/>
    </inertial>
  </link>
  <gazebo reference="r3f_finger_2_link_1">
    <mu1>1.1</mu1>
    <mu2>1.1</mu2>
  </gazebo>
  <!-- Link 2 -->
  <link name="r3f_finger_2_link_2">
    <visual>
      <origin rpy="0 0 1.5708" xyz="0 0.03810 0.0075"/>
      <geometry>
        <mesh filename="package://robotiq_3f_gripper_visualization/meshes/robotiq-3f-gripper_articulated/visual/link_2.dae"/>
      </geometry>
      <material name="green"/>
    </visual>
    <collision>
      <origin rpy="0 0 1.5708" xyz="0 0.03810 0.0075"/>
      <geometry>
        <mesh filename="package://robotiq_3f_gripper_visualization/meshes/robotiq-3f-gripper_articulated/collision/link_2.STL"/>
      </geometry>
      <material name="yellow"/>
    </collision>
    <inertial>
      <origin rpy="0 0 1.5708" xyz="0.00048 0.02167 0.00018"/>
      <mass value="0.03284"/>
      <inertia ixx="0.00000348008" ixy="0.00000031940" ixz="0.00000013041" iyy="0.00002248123" iyz="0.00000000291" izz="0.00001986346"/>
    </inertial>
  </link>
  <gazebo reference="r3f_finger_2_link_2">
    <mu1>1.1</mu1>
    <mu2>1.1</mu2>
  </gazebo>
  <!-- Link 3 -->
  <link name="r3f_finger_2_link_3">
    <visual>
      <origin rpy="0 0 0" xyz="0 0 0"/>
      <geometry>
        <mesh filename="package://robotiq_3f_gripper_visualization/meshes/robotiq-3f-gripper_articulated/visual/link_3.dae"/>
      </geometry>
      <material name="green"/>
    </visual>
    <collision>
      <origin rpy="0 0 0" xyz="0 0 0"/>
      <geometry>
        <mesh filename="package://robotiq_3f_gripper_visualization/meshes/robotiq-3f-gripper_articulated/collision/link_3.STL"/>
      </geometry>
      <material name="yellow"/>
    </collision>
    <inertial>
      <origin rpy="0 0 0" xyz="0.01626 0.00049 0.0002"/>
      <mass value="0.03354"/>
      <inertia ixx="0.00000305151" ixy="0.00000089792" ixz="0.00000000249" iyy="0.00001427978" iyz="-0.00000001191" izz="0.00001264126"/>
    </inertial>
  </link>
  <gazebo reference="r3f_finger_2_link_3">
    <mu1>1.1</mu1>
    <mu2>1.1</mu2>
  </gazebo>
  <!-- Link proximal actuating hinge -->
  <link name="r3f_finger_2_link_proximal_actuating_hinge">
    <visual>
      <origin rpy="0 0 0" xyz="0.01429 0 0"/>
      <geometry>
        <box size="0.02858 .0075 .002"/>
      </geometry>
    </visual>
    <collision>
      <origin rpy="0 0 0" xyz="0.01429 0 0"/>
      <geometry>
        <box size="0.02858 .0075 .002"/>
      </geometry>
    </collision>
    <inertial>
      <origin rpy="0 0 0" xyz="0.0012 -0.00162 -0.00161"/>
      <mass value="0.02647"/>
      <inertia ixx="0.00000156447" ixy="0.000000236226" ixz="-0.00000014862" iyy="0.00000221068" iyz="-0.00000014369" izz="0.00000323175"/>
    </inertial>
  </link>
  <gazebo reference="r3f_finger_2_link_proximal_actuating_hinge">
    <mu1>1.1</mu1>
    <mu2>1.1</mu2>
  </gazebo>
  <!-- Link paraproximal actuating hinge -->
  <link name="r3f_finger_2_link_paraproximal_actuating_hinge">
    <visual>
      <origin rpy="0 0 0" xyz="0.01143 0 0"/>
      <geometry>
        <box size="0.02286 .0075 .002"/>
      </geometry>
    </visual>
    <collision>
      <origin rpy="0 0 0" xyz="0.01143 0 0"/>
      <geometry>
        <box size="0.02286 .0075 .002"/>
      </geometry>
    </collision>
    <inertial>
      <origin rpy="0 0 0" xyz="0.0064 0 0"/>
      <!-- copied from proximal_actuating_hinge -->
      <mass value="0.00362"/>
      <inertia ixx="0.00000012043" ixy="0" ixz="0" iyy="0.00000053588" iyz="0" izz="0.00000065322"/>
    </inertial>
  </link>
  <gazebo reference="r3f_finger_2_link_paraproximal_actuating_hinge">
    <mu1>1.1</mu1>
    <mu2>1.1</mu2>
  </gazebo>
  <!-- Link proximal actuating bar -->
  <link name="r3f_finger_2_link_proximal_actuating_bar">
    <visual>
      <origin rpy="0 0 0" xyz="0.026789 0 0"/>
      <geometry>
        <box size="0.05398 .0075 .002"/>
      </geometry>
    </visual>
    <collision>
      <origin rpy="0 0 0" xyz="0.026789 0 0"/>
      <geometry>
        <box size="0.05398 .0075 .002"/>
      </geometry>
    </collision>
    <inertial>
      <origin rpy="0 0 0" xyz="0.02699 -0.00122 0"/>
      <mass value="0.00659"/>
      <inertia ixx="0.00000008348" ixy="-0.0000002179" ixz="0.00000000134" iyy="0.00000719076" iyz="0" izz="0.00000718272"/>
    </inertial>
  </link>
  <gazebo reference="r3f_finger_2_link_proximal_actuating_bar">
    <mu1>1.1</mu1>
    <mu2>1.1</mu2>
  </gazebo>
  <!-- Link paraproximal bar -->
  <link name="r3f_finger_2_link_paraproximal_bar">
    <visual>
      <origin rpy="0 0 0" xyz="0.02885 0 0"/>
      <geometry>
        <box size="0.05770 .0075 .002"/>
      </geometry>
    </visual>
    <collision>
      <origin rpy="0 0 0" xyz="0.02885 0 0"/>
      <geometry>
        <box size="0.05770 .0075 .002"/>
      </geometry>
    </collision>
    <inertial>
      <origin rpy="0 0 0" xyz="0.02858 -0.00129 0"/>
      <mass value="0.00732"/>
      <inertia ixx="0.00000009065" ixy="-0.00000027047" ixz="0.00000000142" iyy="0.00000878034" iyz="0" izz="0.00000877558"/>
    </inertial>
  </link>
  <gazebo reference="r3f_finger_2_link_paraproximal_bar">
    <mu1>1.1</mu1>
    <mu2>1.1</mu2>
  </gazebo>
  <!-- Link median actuating hinge -->
  <link name="r3f_finger_2_link_median_actuating_hinge">
    <visual>
      <origin rpy="0 0 0" xyz="0 0 0"/>
      <geometry>
        <box size=".02 .02 .002"/>
      </geometry>
    </visual>
    <collision>
      <origin rpy="0 0 0" xyz="0 0 0"/>
      <geometry>
        <box size=".02 .02 .002"/>
      </geometry>
    </collision>
    <inertial>
      <origin rpy="0 0 0" xyz="0.0092 0.00514 0"/>
      <mass value="0.00359"/>
      <inertia ixx="0.00000024735" ixy="0.00000023619" ixz="0" iyy="0.00000047681" iyz="0" izz="0.00000071813"/>
    </inertial>
  </link>
  <gazebo reference="r3f_finger_2_link_median_actuating_hinge">
    <mu1>1.1</mu1>
    <mu2>1.1</mu2>
  </gazebo>
  <!-- Link median bar -->
  <link name="r3f_finger_2_link_median_bar">
    <visual>
      <origin rpy="0 0 0" xyz="0.01905 0 0"/>
      <geometry>
        <box size="0.0381 .0075 .002"/>
      </geometry>
    </visual>
    <collision>
      <origin rpy="0 0 0" xyz="0.01905 0 0"/>
      <geometry>
        <box size="0.0381 .0075 .002"/>
      </geometry>
    </collision>
    <inertial>
      <origin rpy="0 0 0" xyz="0.01905 -0.00107 0"/>
      <mass value="0.00538"/>
      <inertia ixx="0.00000006639" ixy="-0.00000010996" ixz="0.00000000094" iyy="0.00000305318" iyz="0" izz="0.00000304657"/>
    </inertial>
  </link>
  <gazebo reference="r3f_finger_2_link_median_bar">
    <mu1>1.1</mu1>
    <mu2>1.1</mu2>
  </gazebo>
  <!-- Link paramedian hinge -->
  <link name="r3f_finger_2_link_paramedian_hinge">
    <visual>
      <origin rpy="0 0 0" xyz="0 0 0"/>
      <geometry>
        <box size=".02 .02 .002"/>
      </geometry>
    </visual>
    <collision>
      <origin rpy="0 0 0" xyz="0 0 0"/>
      <geometry>
        <box size=".02 .02 .002"/>
      </geometry>
    </collision>
    <inertial>
      <origin rpy="0 0 0" xyz="-0.01025 0.00046 0"/>
      <mass value="0.00276"/>
      <inertia ixx="0.00000004213" ixy="-0.00000001491" ixz="0" iyy="0.00000050258" iyz="0" izz="0.00000054007"/>
    </inertial>
  </link>
  <gazebo reference="r3f_finger_2_link_paramedian_hinge">
    <mu1>1.1</mu1>
    <mu2>1.1</mu2>
  </gazebo>
  <!-- Link median bar underactuated -->
  <link name="r3f_finger_2_link_median_bar_underactuated">
    <visual>
      <origin rpy="0 0 0" xyz="0.01905 0 0"/>
      <geometry>
        <box size="0.0381 .0075 .002"/>
      </geometry>
    </visual>
    <collision>
      <origin rpy="0 0 0" xyz="0.01905 0 0"/>
      <geometry>
        <box size="0.0381 .0075 .002"/>
      </geometry>
    </collision>
    <inertial>
      <origin rpy="0 0 0" xyz="0.01905 -0.00107 0"/>
      <mass value="0.00538"/>
      <inertia ixx="0.00000006639" ixy="-0.00000010996" ixz="-0.00000000094" iyy="0.00000305318" iyz="0" izz="0.00000304657"/>
    </inertial>
  </link>
  <gazebo reference="r3f_finger_2_link_median_bar_underactuated">
    <mu1>1.1</mu1>
    <mu2>1.1</mu2>
  </gazebo>
  <!-- Link paradistal hinge -->
  <link name="r3f_finger_2_link_paradistal_hinge">
    <visual>
      <origin rpy="0 0 0" xyz="0 0 0"/>
      <geometry>
        <box size=".02 .02 .002"/>
      </geometry>
    </visual>
    <collision>
      <origin rpy="0 0 0" xyz="0 0 0"/>
      <geometry>
        <box size=".02 0.02 .002"/>
      </geometry>
    </collision>
    <inertial>
      <origin rpy="0 0 0" xyz="0.00548 0 0"/>
      <mass value="0.00158"/>
      <inertia ixx="0.00000001907" ixy="0" ixz="0" iyy="0.00000010970" iyz="0" izz="0.00000012610"/>
    </inertial>
  </link>
  <gazebo reference="r3f_finger_2_link_paradistal_hinge">
    <mu1>1.1</mu1>
    <mu2>1.1</mu2>
  </gazebo>
  <!-- End of link list -->
  <!-- Joint list -->
  <!-- Joint proximal actuating hinge -->
  <joint name="r3f_finger_2_joint_proximal_actuating_hinge" type="revolute">
    <parent link="r3f_finger_2_link_0"/>
    <child link="r3f_finger_2_link_proximal_actuating_hinge"/>
    <axis xyz="0 0 1"/>
    <origin rpy="0 0 -2.0906" xyz="0 0 0.01"/>
    <limit effort="100" lower="-3.1416" upper="3.1416" velocity="100"/>
  </joint>
  <gazebo reference="r3f_finger_2_joint_proximal_actuating_hinge">
    <implicitSpringDamper>1</implicitSpringDamper>
  </gazebo>
  <!-- Joint paraproximal actuating hinge -->
  <joint name="r3f_finger_2_joint_paraproximal_actuating_hinge" type="revolute">
    <parent link="r3f_finger_2_link_0"/>
    <child link="r3f_finger_2_link_paraproximal_actuating_hinge"/>
    <axis xyz="0 0 1"/>
    <origin rpy="0 0 -2.0906" xyz="0 0 -0.01"/>
    <limit effort="100" lower="-3.1416" upper="3.1416" velocity="100"/>
  </joint>
  <gazebo reference="r3f_finger_2_joint_paraproximal_actuating_hinge">
    <implicitSpringDamper>1</implicitSpringDamper>
  </gazebo>
  <!-- Joint proximal actuating bar -->
  <joint name="r3f_finger_2_joint_proximal_actuating_bar" type="revolute">
    <parent link="r3f_finger_2_link_proximal_actuating_hinge"/>
    <child link="r3f_finger_2_link_proximal_actuating_bar"/>
    <axis xyz="0 0 1"/>
    <origin rpy="0 0 1.8616" xyz="0.02858 0 0"/>
    <limit effort="100" lower="-3.1416" upper="3.1416" velocity="100"/>
  </joint>
  <gazebo reference="r3f_finger_2_joint_proximal_actuating_bar">
    <implicitSpringDamper>1</implicitSpringDamper>
  </gazebo>
  <!-- Joint paraproximal bar -->
  <joint name="r3f_finger_2_joint_paraproximal_bar" type="revolute">
    <parent link="r3f_finger_2_link_paraproximal_actuating_hinge"/>
    <child link="r3f_finger_2_link_paraproximal_bar"/>
    <axis xyz="0 0 1"/>
    <origin rpy="0 0 1.57" xyz="0.02286 0 0"/>
    <limit effort="100" lower="-3.1416" upper="3.1416" velocity="100"/>
  </joint>
  <gazebo reference="r3f_finger_2_joint_paraproximal_bar">
    <implicitSpringDamper>1</implicitSpringDamper>
  </gazebo>
  <!-- Joint median actuating hinge -->
  <joint name="r3f_finger_2_joint_median_actuating_hinge" type="revolute">
    <parent link="r3f_finger_2_link_1"/>
    <child link="r3f_finger_2_link_median_actuating_hinge"/>
    <axis xyz="0 0 1"/>
    <origin rpy="0 0 -0.37" xyz="0 0.05715 0.01"/>
    <limit effort="100" lower="-3.1416" upper="3.1416" velocity="100"/>
  </joint>
  <gazebo reference="r3f_finger_2_joint_median_actuating_hinge">
    <implicitSpringDamper>1</implicitSpringDamper>
  </gazebo>
  <!-- Joint paramedian hinge -->
  <joint name="r3f_finger_2_joint_paramedian_hinge" type="revolute">
    <parent link="r3f_finger_2_link_1"/>
    <child link="r3f_finger_2_link_paramedian_hinge"/>
    <axis xyz="0 0 1"/>
    <!-- -0.37 is hand picked, 0.9719 is hand calculated from atan(0.02381/0.01625) -->
    <origin rpy="0 0 0" xyz="0 0.05715 -0.01"/>
    <limit effort="100" lower="-3.1416" upper="3.1416" velocity="100"/>
  </joint>
  <gazebo reference="r3f_finger_2_joint_paramedian_hinge">
    <implicitSpringDamper>1</implicitSpringDamper>
  </gazebo>
  <!-- Joint median actuating hinge median bar -->
  <joint name="r3f_finger_2_joint_median_actuating_hinge_median_bar" type="revolute">
    <parent link="r3f_finger_2_link_median_actuating_hinge"/>
    <child link="r3f_finger_2_link_median_bar"/>
    <axis xyz="0 0 1"/>
    <!-- hand calc 90 deg + atan(0.01516/0.01625) -->
    <origin rpy="0 0 2.3215" xyz="0.01625 0.01516 0"/>
    <limit effort="100" lower="-3.1416" upper="3.1416" velocity="100"/>
  </joint>
  <gazebo reference="r3f_finger_2_joint_median_actuating_hinge_median_bar">
    <implicitSpringDamper>1</implicitSpringDamper>
  </gazebo>
  <!-- Joint paradistal hinge -->
  <joint name="r3f_finger_2_joint_paradistal_hinge" type="revolute">
    <parent link="r3f_finger_2_link_2"/>
    <child link="r3f_finger_2_link_paradistal_hinge"/>
    <axis xyz="0 0 1"/>
    <origin rpy="0 0 0" xyz="0 0.039 -0.01"/>
    <limit effort="100" lower="-3.1416" upper="3.1416" velocity="100"/>
  </joint>
  <gazebo reference="r3f_finger_2_joint_paradistal_hinge">
    <implicitSpringDamper>1</implicitSpringDamper>
  </gazebo>
  <!-- Joint paramedian hinge median bar underactuated -->
  <joint name="r3f_finger_2_joint_paramedian_hinge_median_bar_underactuated" type="revolute">
    <parent link="r3f_finger_2_link_paramedian_hinge"/>
    <child link="r3f_finger_2_link_median_bar_underactuated"/>
    <axis xyz="0 0 1"/>
    <!-- hand calc 90 deg + atan(0.01227/0.00329) -->
    <origin rpy="0 0 1.5708" xyz="0.01227 0.00329 0"/>
    <limit effort="100" lower="-3.1416" upper="3.1416" velocity="100"/>
  </joint>
  <gazebo reference="r3f_finger_2_joint_paramedian_hinge_median_bar_underactuated">
    <implicitSpringDamper>1</implicitSpringDamper>
  </gazebo>
  <!-- Joint 1 -->
  <joint name="r3f_finger_2_joint_1" type="revolute">
    <origin rpy="0 0 -2.0906" xyz="0 0 0"/>
    <axis xyz="0 0 1"/>
    <parent link="r3f_finger_2_link_0"/>
    <child link="r3f_finger_2_link_1"/>
    <dynamics damping="1" friction="0"/>
    <!-- Limits: [0deg.,70deg.] -->
    <limit effort="60" lower="0" upper="1.2217" velocity="-1"/>
  </joint>
  <gazebo reference="r3f_finger_2_joint_1">
    <implicitSpringDamper>1</implicitSpringDamper>
  </gazebo>
  <!-- Joint 2 -->
  <joint name="r3f_finger_2_joint_2" type="revolute">
    <parent link="r3f_finger_2_link_1"/>
    <child link="r3f_finger_2_link_2"/>
    <dynamics damping="1" friction="0"/>
    <axis xyz="0 0 1"/>
    <origin rpy="0 0 0" xyz="0 0.05715 0"/>
    <!-- Limits: [0deg.,90deg.] -->
    <limit effort="60" lower="0" upper="1.5708" velocity="-1"/>
  </joint>
  <gazebo reference="r3f_finger_2_joint_2">
    <implicitSpringDamper>1</implicitSpringDamper>
  </gazebo>
  <!-- Joint 3 -->
  <joint name="r3f_finger_2_joint_3" type="revolute">
    <parent link="r3f_finger_2_link_2"/>
    <child link="r3f_finger_2_link_3"/>
    <dynamics damping="1" friction="0"/>
    <axis xyz="0 0 1"/>
    <origin rpy="0 0 2.0906" xyz="0 0.039 0"/>
    <!-- Limits: [-38deg.,60deg.] -->
    <limit effort="60" lower="-0.6632" upper="1.0471" velocity="-1"/>
  </joint>
  <gazebo reference="r3f_finger_2_joint_3">
    <implicitSpringDamper>1</implicitSpringDamper>
  </gazebo>
  <!-- end of joint list -->
  <!-- coupling joints in sdf -->
  <gazebo>
    <joint name="r3f_finger_2_link_proximal_actuating_bar_median_actuating_hinge_couple" type="revolute">
      <parent>r3f_finger_2_link_median_actuating_hinge</parent>
      <child>r3f_finger_2_link_proximal_actuating_bar</child>
      <pose>0.05398 0 0 0 0 0</pose>
      <axis>
        <dynamics>
          <damping>0</damping>
          <friction>0</friction>
        </dynamics>
        <xyz>0 0 1</xyz>
        <!-- <use_parent_model_frame>false</use_parent_model_frame> -->
      </axis>
    </joint>
  </gazebo>
  <gazebo reference="r3f_finger_2_link_proximal_actuating_bar_median_actuating_hinge_couple">
    <implicitSpringDamper>1</implicitSpringDamper>
  </gazebo>
  <gazebo>
    <joint name="r3f_finger_2_link_median_bar_link_3_couple" type="revolute">
      <parent>r3f_finger_2_link_3</parent>
      <child>r3f_finger_2_link_median_bar</child>
      <pose>0.0381 0 0 0 0 0</pose>
      <axis>
        <dynamics>
          <damping>0</damping>
          <friction>0</friction>
        </dynamics>
        <xyz>0 0 1</xyz>
        <!-- <use_parent_model_frame>false</use_parent_model_frame> -->
      </axis>
    </joint>
  </gazebo>
  <gazebo reference="r3f_finger_2_link_median_bar_link_3_couple">
    <implicitSpringDamper>1</implicitSpringDamper>
  </gazebo>
  <gazebo>
    <joint name="r3f_finger_2_link_paramedian_bar_paradistal_hinge_couple" type="revolute">
      <parent>r3f_finger_2_link_paradistal_hinge</parent>
      <child>r3f_finger_2_link_median_bar_underactuated</child>
      <pose>0.0381 0 0 0 0 0</pose>
      <axis>
        <dynamics>
          <damping>0</damping>
          <friction>0</friction>
        </dynamics>
        <xyz>0 0 1</xyz>
        <!-- <use_parent_model_frame>false</use_parent_model_frame> -->
      </axis>
    </joint>
  </gazebo>
  <gazebo reference="r3f_finger_2_link_median_bar_link_3_couple">
    <implicitSpringDamper>1</implicitSpringDamper>
  </gazebo>
  <gazebo>
    <joint name="r3f_finger_2_link_paradistal_hinge_link_3_couple" type="revolute">
      <parent>r3f_finger_2_link_paradistal_hinge</parent>
      <child>r3f_finger_2_link_3</child>
      <pose>0.0381 0 0 0 0 0</pose>
      <axis>
        <dynamics>
          <damping>0</damping>
          <friction>0</friction>
        </dynamics>
        <xyz>0 0 1</xyz>
        <!-- <use_parent_model_frame>false</use_parent_model_frame> -->
      </axis>
    </joint>
  </gazebo>
  <gazebo reference="r3f_finger_2_link_paradistal_hinge_link_3_couple">
    <implicitSpringDamper>1</implicitSpringDamper>
  </gazebo>
  <gazebo>
    <joint name="r3f_finger_2_link_paraproximal_bar_paramedian_hinge_couple" type="revolute">
      <parent>r3f_finger_2_link_paramedian_hinge</parent>
      <child>r3f_finger_2_link_paraproximal_bar</child>
      <pose>0.05770 0 0 0 0 0</pose>
      <axis>
        <dynamics>
          <damping>0</damping>
          <friction>0</friction>
        </dynamics>
        <xyz>0 0 1</xyz>
        <!-- <use_parent_model_frame>false</use_parent_model_frame> -->
      </axis>
    </joint>
  </gazebo>
  <gazebo reference="r3f_finger_2_link_paraproximal_bar_paramedian_hinge_couple">
    <implicitSpringDamper>1</implicitSpringDamper>
  </gazebo>
  <!-- Link list -->
  <!-- Link 0 -->
  <link name="r3f_finger_middle_link_0">
    <visual>
      <origin rpy="0 0 0" xyz="0 0 0"/>
      <geometry>
        <mesh filename="package://robotiq_3f_gripper_visualization/meshes/robotiq-3f-gripper_articulated/visual/link_0.dae"/>
      </geometry>
      <material name="green">
        <color rgba="0 1 0 1"/>
      </material>
    </visual>
    <collision>
      <origin rpy="0 0 0" xyz="0 0 0"/>
      <geometry>
        <mesh filename="package://robotiq_3f_gripper_visualization/meshes/robotiq-3f-gripper_articulated/collision/link_0.STL"/>
      </geometry>
      <material name="yellow">
        <color rgba="0 1 1 1"/>
      </material>
    </collision>
    <inertial>
      <mass value="0.1"/>
      <origin xyz="-0.01 0 0"/>
      <inertia ixx="0.000018" ixy="0" ixz="0" iyy="0.000025" iyz="0" izz="0.000025"/>
    </inertial>
  </link>
  <gazebo reference="r3f_finger_middle_link_0">
    <mu1>1.1</mu1>
    <mu2>1.1</mu2>
  </gazebo>
  <!-- Link 1 -->
  <link name="r3f_finger_middle_link_1">
    <visual>
      <origin rpy="0 0 1.5708" xyz="0 0.05717 0"/>
      <geometry>
        <mesh filename="package://robotiq_3f_gripper_visualization/meshes/robotiq-3f-gripper_articulated/visual/link_1.dae"/>
      </geometry>
      <material name="green"/>
    </visual>
    <collision>
      <origin rpy="0 0 1.5708" xyz="0 0.05717 0"/>
      <geometry>
        <mesh filename="package://robotiq_3f_gripper_visualization/meshes/robotiq-3f-gripper_articulated/collision/link_1.STL"/>
      </geometry>
      <material name="yellow">
        <color rgba="0 1 1 1"/>
      </material>
    </collision>
    <inertial>
      <origin rpy="0 0 1.5708" xyz="0.00053 0.03218 0"/>
      <mass value="0.047"/>
      <inertia ixx="0.00000499332" ixy="0.00000091312" ixz="-0.00000000120" iyy="0.00006434531" iyz="-0.00000000007" izz="0.00006061917"/>
    </inertial>
  </link>
  <gazebo reference="r3f_finger_middle_link_1">
    <mu1>1.1</mu1>
    <mu2>1.1</mu2>
  </gazebo>
  <!-- Link 2 -->
  <link name="r3f_finger_middle_link_2">
    <visual>
      <origin rpy="0 0 1.5708" xyz="0 0.03810 0.0075"/>
      <geometry>
        <mesh filename="package://robotiq_3f_gripper_visualization/meshes/robotiq-3f-gripper_articulated/visual/link_2.dae"/>
      </geometry>
      <material name="green"/>
    </visual>
    <collision>
      <origin rpy="0 0 1.5708" xyz="0 0.03810 0.0075"/>
      <geometry>
        <mesh filename="package://robotiq_3f_gripper_visualization/meshes/robotiq-3f-gripper_articulated/collision/link_2.STL"/>
      </geometry>
      <material name="yellow"/>
    </collision>
    <inertial>
      <origin rpy="0 0 1.5708" xyz="0.00048 0.02167 0.00018"/>
      <mass value="0.03284"/>
      <inertia ixx="0.00000348008" ixy="0.00000031940" ixz="0.00000013041" iyy="0.00002248123" iyz="0.00000000291" izz="0.00001986346"/>
    </inertial>
  </link>
  <gazebo reference="r3f_finger_middle_link_2">
    <mu1>1.1</mu1>
    <mu2>1.1</mu2>
  </gazebo>
  <!-- Link 3 -->
  <link name="r3f_finger_middle_link_3">
    <visual>
      <origin rpy="0 0 0" xyz="0 0 0"/>
      <geometry>
        <mesh filename="package://robotiq_3f_gripper_visualization/meshes/robotiq-3f-gripper_articulated/visual/link_3.dae"/>
      </geometry>
      <material name="green"/>
    </visual>
    <collision>
      <origin rpy="0 0 0" xyz="0 0 0"/>
      <geometry>
        <mesh filename="package://robotiq_3f_gripper_visualization/meshes/robotiq-3f-gripper_articulated/collision/link_3.STL"/>
      </geometry>
      <material name="yellow"/>
    </collision>
    <inertial>
      <origin rpy="0 0 0" xyz="0.01626 0.00049 0.0002"/>
      <mass value="0.03354"/>
      <inertia ixx="0.00000305151" ixy="0.00000089792" ixz="0.00000000249" iyy="0.00001427978" iyz="-0.00000001191" izz="0.00001264126"/>
    </inertial>
  </link>
  <gazebo reference="r3f_finger_middle_link_3">
    <mu1>1.1</mu1>
    <mu2>1.1</mu2>
  </gazebo>
  <!-- Link proximal actuating hinge -->
  <link name="r3f_finger_middle_link_proximal_actuating_hinge">
    <visual>
      <origin rpy="0 0 0" xyz="0.01429 0 0"/>
      <geometry>
        <box size="0.02858 .0075 .002"/>
      </geometry>
    </visual>
    <collision>
      <origin rpy="0 0 0" xyz="0.01429 0 0"/>
      <geometry>
        <box size="0.02858 .0075 .002"/>
      </geometry>
    </collision>
    <inertial>
      <origin rpy="0 0 0" xyz="0.0012 -0.00162 -0.00161"/>
      <mass value="0.02647"/>
      <inertia ixx="0.00000156447" ixy="0.000000236226" ixz="-0.00000014862" iyy="0.00000221068" iyz="-0.00000014369" izz="0.00000323175"/>
    </inertial>
  </link>
  <gazebo reference="r3f_finger_middle_link_proximal_actuating_hinge">
    <mu1>1.1</mu1>
    <mu2>1.1</mu2>
  </gazebo>
  <!-- Link paraproximal actuating hinge -->
  <link name="r3f_finger_middle_link_paraproximal_actuating_hinge">
    <visual>
      <origin rpy="0 0 0" xyz="0.01143 0 0"/>
      <geometry>
        <box size="0.02286 .0075 .002"/>
      </geometry>
    </visual>
    <collision>
      <origin rpy="0 0 0" xyz="0.01143 0 0"/>
      <geometry>
        <box size="0.02286 .0075 .002"/>
      </geometry>
    </collision>
    <inertial>
      <origin rpy="0 0 0" xyz="0.0064 0 0"/>
      <!-- copied from proximal_actuating_hinge -->
      <mass value="0.00362"/>
      <inertia ixx="0.00000012043" ixy="0" ixz="0" iyy="0.00000053588" iyz="0" izz="0.00000065322"/>
    </inertial>
  </link>
  <gazebo reference="r3f_finger_middle_link_paraproximal_actuating_hinge">
    <mu1>1.1</mu1>
    <mu2>1.1</mu2>
  </gazebo>
  <!-- Link proximal actuating bar -->
  <link name="r3f_finger_middle_link_proximal_actuating_bar">
    <visual>
      <origin rpy="0 0 0" xyz="0.026789 0 0"/>
      <geometry>
        <box size="0.05398 .0075 .002"/>
      </geometry>
    </visual>
    <collision>
      <origin rpy="0 0 0" xyz="0.026789 0 0"/>
      <geometry>
        <box size="0.05398 .0075 .002"/>
      </geometry>
    </collision>
    <inertial>
      <origin rpy="0 0 0" xyz="0.02699 -0.00122 0"/>
      <mass value="0.00659"/>
      <inertia ixx="0.00000008348" ixy="-0.0000002179" ixz="0.00000000134" iyy="0.00000719076" iyz="0" izz="0.00000718272"/>
    </inertial>
  </link>
  <gazebo reference="r3f_finger_middle_link_proximal_actuating_bar">
    <mu1>1.1</mu1>
    <mu2>1.1</mu2>
  </gazebo>
  <!-- Link paraproximal bar -->
  <link name="r3f_finger_middle_link_paraproximal_bar">
    <visual>
      <origin rpy="0 0 0" xyz="0.02885 0 0"/>
      <geometry>
        <box size="0.05770 .0075 .002"/>
      </geometry>
    </visual>
    <collision>
      <origin rpy="0 0 0" xyz="0.02885 0 0"/>
      <geometry>
        <box size="0.05770 .0075 .002"/>
      </geometry>
    </collision>
    <inertial>
      <origin rpy="0 0 0" xyz="0.02858 -0.00129 0"/>
      <mass value="0.00732"/>
      <inertia ixx="0.00000009065" ixy="-0.00000027047" ixz="0.00000000142" iyy="0.00000878034" iyz="0" izz="0.00000877558"/>
    </inertial>
  </link>
  <gazebo reference="r3f_finger_middle_link_paraproximal_bar">
    <mu1>1.1</mu1>
    <mu2>1.1</mu2>
  </gazebo>
  <!-- Link median actuating hinge -->
  <link name="r3f_finger_middle_link_median_actuating_hinge">
    <visual>
      <origin rpy="0 0 0" xyz="0 0 0"/>
      <geometry>
        <box size=".02 .02 .002"/>
      </geometry>
    </visual>
    <collision>
      <origin rpy="0 0 0" xyz="0 0 0"/>
      <geometry>
        <box size=".02 .02 .002"/>
      </geometry>
    </collision>
    <inertial>
      <origin rpy="0 0 0" xyz="0.0092 0.00514 0"/>
      <mass value="0.00359"/>
      <inertia ixx="0.00000024735" ixy="0.00000023619" ixz="0" iyy="0.00000047681" iyz="0" izz="0.00000071813"/>
    </inertial>
  </link>
  <gazebo reference="r3f_finger_middle_link_median_actuating_hinge">
    <mu1>1.1</mu1>
    <mu2>1.1</mu2>
  </gazebo>
  <!-- Link median bar -->
  <link name="r3f_finger_middle_link_median_bar">
    <visual>
      <origin rpy="0 0 0" xyz="0.01905 0 0"/>
      <geometry>
        <box size="0.0381 .0075 .002"/>
      </geometry>
    </visual>
    <collision>
      <origin rpy="0 0 0" xyz="0.01905 0 0"/>
      <geometry>
        <box size="0.0381 .0075 .002"/>
      </geometry>
    </collision>
    <inertial>
      <origin rpy="0 0 0" xyz="0.01905 -0.00107 0"/>
      <mass value="0.00538"/>
      <inertia ixx="0.00000006639" ixy="-0.00000010996" ixz="0.00000000094" iyy="0.00000305318" iyz="0" izz="0.00000304657"/>
    </inertial>
  </link>
  <gazebo reference="r3f_finger_middle_link_median_bar">
    <mu1>1.1</mu1>
    <mu2>1.1</mu2>
  </gazebo>
  <!-- Link paramedian hinge -->
  <link name="r3f_finger_middle_link_paramedian_hinge">
    <visual>
      <origin rpy="0 0 0" xyz="0 0 0"/>
      <geometry>
        <box size=".02 .02 .002"/>
      </geometry>
    </visual>
    <collision>
      <origin rpy="0 0 0" xyz="0 0 0"/>
      <geometry>
        <box size=".02 .02 .002"/>
      </geometry>
    </collision>
    <inertial>
      <origin rpy="0 0 0" xyz="-0.01025 0.00046 0"/>
      <mass value="0.00276"/>
      <inertia ixx="0.00000004213" ixy="-0.00000001491" ixz="0" iyy="0.00000050258" iyz="0" izz="0.00000054007"/>
    </inertial>
  </link>
  <gazebo reference="r3f_finger_middle_link_paramedian_hinge">
    <mu1>1.1</mu1>
    <mu2>1.1</mu2>
  </gazebo>
  <!-- Link median bar underactuated -->
  <link name="r3f_finger_middle_link_median_bar_underactuated">
    <visual>
      <origin rpy="0 0 0" xyz="0.01905 0 0"/>
      <geometry>
        <box size="0.0381 .0075 .002"/>
      </geometry>
    </visual>
    <collision>
      <origin rpy="0 0 0" xyz="0.01905 0 0"/>
      <geometry>
        <box size="0.0381 .0075 .002"/>
      </geometry>
    </collision>
    <inertial>
      <origin rpy="0 0 0" xyz="0.01905 -0.00107 0"/>
      <mass value="0.00538"/>
      <inertia ixx="0.00000006639" ixy="-0.00000010996" ixz="-0.00000000094" iyy="0.00000305318" iyz="0" izz="0.00000304657"/>
    </inertial>
  </link>
  <gazebo reference="r3f_finger_middle_link_median_bar_underactuated">
    <mu1>1.1</mu1>
    <mu2>1.1</mu2>
  </gazebo>
  <!-- Link paradistal hinge -->
  <link name="r3f_finger_middle_link_paradistal_hinge">
    <visual>
      <origin rpy="0 0 0" xyz="0 0 0"/>
      <geometry>
        <box size=".02 .02 .002"/>
      </geometry>
    </visual>
    <collision>
      <origin rpy="0 0 0" xyz="0 0 0"/>
      <geometry>
        <box size=".02 0.02 .002"/>
      </geometry>
    </collision>
    <inertial>
      <origin rpy="0 0 0" xyz="0.00548 0 0"/>
      <mass value="0.00158"/>
      <inertia ixx="0.00000001907" ixy="0" ixz="0" iyy="0.00000010970" iyz="0" izz="0.00000012610"/>
    </inertial>
  </link>
  <gazebo reference="r3f_finger_middle_link_paradistal_hinge">
    <mu1>1.1</mu1>
    <mu2>1.1</mu2>
  </gazebo>
  <!-- End of link list -->
  <!-- Joint list -->
  <!-- Joint proximal actuating hinge -->
  <joint name="r3f_finger_middle_joint_proximal_actuating_hinge" type="revolute">
    <parent link="r3f_finger_middle_link_0"/>
    <child link="r3f_finger_middle_link_proximal_actuating_hinge"/>
    <axis xyz="0 0 1"/>
    <origin rpy="0 0 -2.0906" xyz="0 0 0.01"/>
    <limit effort="100" lower="-3.1416" upper="3.1416" velocity="100"/>
  </joint>
  <gazebo reference="r3f_finger_middle_joint_proximal_actuating_hinge">
    <implicitSpringDamper>1</implicitSpringDamper>
  </gazebo>
  <!-- Joint paraproximal actuating hinge -->
  <joint name="r3f_finger_middle_joint_paraproximal_actuating_hinge" type="revolute">
    <parent link="r3f_finger_middle_link_0"/>
    <child link="r3f_finger_middle_link_paraproximal_actuating_hinge"/>
    <axis xyz="0 0 1"/>
    <origin rpy="0 0 -2.0906" xyz="0 0 -0.01"/>
    <limit effort="100" lower="-3.1416" upper="3.1416" velocity="100"/>
  </joint>
  <gazebo reference="r3f_finger_middle_joint_paraproximal_actuating_hinge">
    <implicitSpringDamper>1</implicitSpringDamper>
  </gazebo>
  <!-- Joint proximal actuating bar -->
  <joint name="r3f_finger_middle_joint_proximal_actuating_bar" type="revolute">
    <parent link="r3f_finger_middle_link_proximal_actuating_hinge"/>
    <child link="r3f_finger_middle_link_proximal_actuating_bar"/>
    <axis xyz="0 0 1"/>
    <origin rpy="0 0 1.8616" xyz="0.02858 0 0"/>
    <limit effort="100" lower="-3.1416" upper="3.1416" velocity="100"/>
  </joint>
  <gazebo reference="r3f_finger_middle_joint_proximal_actuating_bar">
    <implicitSpringDamper>1</implicitSpringDamper>
  </gazebo>
  <!-- Joint paraproximal bar -->
  <joint name="r3f_finger_middle_joint_paraproximal_bar" type="revolute">
    <parent link="r3f_finger_middle_link_paraproximal_actuating_hinge"/>
    <child link="r3f_finger_middle_link_paraproximal_bar"/>
    <axis xyz="0 0 1"/>
    <origin rpy="0 0 1.57" xyz="0.02286 0 0"/>
    <limit effort="100" lower="-3.1416" upper="3.1416" velocity="100"/>
  </joint>
  <gazebo reference="r3f_finger_middle_joint_paraproximal_bar">
    <implicitSpringDamper>1</implicitSpringDamper>
  </gazebo>
  <!-- Joint median actuating hinge -->
  <joint name="r3f_finger_middle_joint_median_actuating_hinge" type="revolute">
    <parent link="r3f_finger_middle_link_1"/>
    <child link="r3f_finger_middle_link_median_actuating_hinge"/>
    <axis xyz="0 0 1"/>
    <origin rpy="0 0 -0.37" xyz="0 0.05715 0.01"/>
    <limit effort="100" lower="-3.1416" upper="3.1416" velocity="100"/>
  </joint>
  <gazebo reference="r3f_finger_middle_joint_median_actuating_hinge">
    <implicitSpringDamper>1</implicitSpringDamper>
  </gazebo>
  <!-- Joint paramedian hinge -->
  <joint name="r3f_finger_middle_joint_paramedian_hinge" type="revolute">
    <parent link="r3f_finger_middle_link_1"/>
    <child link="r3f_finger_middle_link_paramedian_hinge"/>
    <axis xyz="0 0 1"/>
    <!-- -0.37 is hand picked, 0.9719 is hand calculated from atan(0.02381/0.01625) -->
    <origin rpy="0 0 0" xyz="0 0.05715 -0.01"/>
    <limit effort="100" lower="-3.1416" upper="3.1416" velocity="100"/>
  </joint>
  <gazebo reference="r3f_finger_middle_joint_paramedian_hinge">
    <implicitSpringDamper>1</implicitSpringDamper>
  </gazebo>
  <!-- Joint median actuating hinge median bar -->
  <joint name="r3f_finger_middle_joint_median_actuating_hinge_median_bar" type="revolute">
    <parent link="r3f_finger_middle_link_median_actuating_hinge"/>
    <child link="r3f_finger_middle_link_median_bar"/>
    <axis xyz="0 0 1"/>
    <!-- hand calc 90 deg + atan(0.01516/0.01625) -->
    <origin rpy="0 0 2.3215" xyz="0.01625 0.01516 0"/>
    <limit effort="100" lower="-3.1416" upper="3.1416" velocity="100"/>
  </joint>
  <gazebo reference="r3f_finger_middle_joint_median_actuating_hinge_median_bar">
    <implicitSpringDamper>1</implicitSpringDamper>
  </gazebo>
  <!-- Joint paradistal hinge -->
  <joint name="r3f_finger_middle_joint_paradistal_hinge" type="revolute">
    <parent link="r3f_finger_middle_link_2"/>
    <child link="r3f_finger_middle_link_paradistal_hinge"/>
    <axis xyz="0 0 1"/>
    <origin rpy="0 0 0" xyz="0 0.039 -0.01"/>
    <limit effort="100" lower="-3.1416" upper="3.1416" velocity="100"/>
  </joint>
  <gazebo reference="r3f_finger_middle_joint_paradistal_hinge">
    <implicitSpringDamper>1</implicitSpringDamper>
  </gazebo>
  <!-- Joint paramedian hinge median bar underactuated -->
  <joint name="r3f_finger_middle_joint_paramedian_hinge_median_bar_underactuated" type="revolute">
    <parent link="r3f_finger_middle_link_paramedian_hinge"/>
    <child link="r3f_finger_middle_link_median_bar_underactuated"/>
    <axis xyz="0 0 1"/>
    <!-- hand calc 90 deg + atan(0.01227/0.00329) -->
    <origin rpy="0 0 1.5708" xyz="0.01227 0.00329 0"/>
    <limit effort="100" lower="-3.1416" upper="3.1416" velocity="100"/>
  </joint>
  <gazebo reference="r3f_finger_middle_joint_paramedian_hinge_median_bar_underactuated">
    <implicitSpringDamper>1</implicitSpringDamper>
  </gazebo>
  <!-- Joint 1 -->
  <joint name="r3f_finger_middle_joint_1" type="revolute">
    <origin rpy="0 0 -2.0906" xyz="0 0 0"/>
    <axis xyz="0 0 1"/>
    <parent link="r3f_finger_middle_link_0"/>
    <child link="r3f_finger_middle_link_1"/>
    <dynamics damping="1" friction="0"/>
    <!-- Limits: [0deg.,70deg.] -->
    <limit effort="60" lower="0" upper="1.2217" velocity="-1"/>
  </joint>
  <gazebo reference="r3f_finger_middle_joint_1">
    <implicitSpringDamper>1</implicitSpringDamper>
  </gazebo>
  <!-- Joint 2 -->
  <joint name="r3f_finger_middle_joint_2" type="revolute">
    <parent link="r3f_finger_middle_link_1"/>
    <child link="r3f_finger_middle_link_2"/>
    <dynamics damping="1" friction="0"/>
    <axis xyz="0 0 1"/>
    <origin rpy="0 0 0" xyz="0 0.05715 0"/>
    <!-- Limits: [0deg.,90deg.] -->
    <limit effort="60" lower="0" upper="1.5708" velocity="-1"/>
  </joint>
  <gazebo reference="r3f_finger_middle_joint_2">
    <implicitSpringDamper>1</implicitSpringDamper>
  </gazebo>
  <!-- Joint 3 -->
  <joint name="r3f_finger_middle_joint_3" type="revolute">
    <parent link="r3f_finger_middle_link_2"/>
    <child link="r3f_finger_middle_link_3"/>
    <dynamics damping="1" friction="0"/>
    <axis xyz="0 0 1"/>
    <origin rpy="0 0 2.0906" xyz="0 0.039 0"/>
    <!-- Limits: [-38deg.,60deg.] -->
    <limit effort="60" lower="-0.6632" upper="1.0471" velocity="-1"/>
  </joint>
  <gazebo reference="r3f_finger_middle_joint_3">
    <implicitSpringDamper>1</implicitSpringDamper>
  </gazebo>
  <!-- end of joint list -->
  <!-- coupling joints in sdf -->
  <gazebo>
    <joint name="r3f_finger_middle_link_proximal_actuating_bar_median_actuating_hinge_couple" type="revolute">
      <parent>r3f_finger_middle_link_median_actuating_hinge</parent>
      <child>r3f_finger_middle_link_proximal_actuating_bar</child>
      <pose>0.05398 0 0 0 0 0</pose>
      <axis>
        <dynamics>
          <damping>0</damping>
          <friction>0</friction>
        </dynamics>
        <xyz>0 0 1</xyz>
        <!-- <use_parent_model_frame>false</use_parent_model_frame> -->
      </axis>
    </joint>
  </gazebo>
  <gazebo reference="r3f_finger_middle_link_proximal_actuating_bar_median_actuating_hinge_couple">
    <implicitSpringDamper>1</implicitSpringDamper>
  </gazebo>
  <gazebo>
    <joint name="r3f_finger_middle_link_median_bar_link_3_couple" type="revolute">
      <parent>r3f_finger_middle_link_3</parent>
      <child>r3f_finger_middle_link_median_bar</child>
      <pose>0.0381 0 0 0 0 0</pose>
      <axis>
        <dynamics>
          <damping>0</damping>
          <friction>0</friction>
        </dynamics>
        <xyz>0 0 1</xyz>
        <!-- <use_parent_model_frame>false</use_parent_model_frame> -->
      </axis>
    </joint>
  </gazebo>
  <gazebo reference="r3f_finger_middle_link_median_bar_link_3_couple">
    <implicitSpringDamper>1</implicitSpringDamper>
  </gazebo>
  <gazebo>
    <joint name="r3f_finger_middle_link_paramedian_bar_paradistal_hinge_couple" type="revolute">
      <parent>r3f_finger_middle_link_paradistal_hinge</parent>
      <child>r3f_finger_middle_link_median_bar_underactuated</child>
      <pose>0.0381 0 0 0 0 0</pose>
      <axis>
        <dynamics>
          <damping>0</damping>
          <friction>0</friction>
        </dynamics>
        <xyz>0 0 1</xyz>
        <!-- <use_parent_model_frame>false</use_parent_model_frame> -->
      </axis>
    </joint>
  </gazebo>
  <gazebo reference="r3f_finger_middle_link_median_bar_link_3_couple">
    <implicitSpringDamper>1</implicitSpringDamper>
  </gazebo>
  <gazebo>
    <joint name="r3f_finger_middle_link_paradistal_hinge_link_3_couple" type="revolute">
      <parent>r3f_finger_middle_link_paradistal_hinge</parent>
      <child>r3f_finger_middle_link_3</child>
      <pose>0.0381 0 0 0 0 0</pose>
      <axis>
        <dynamics>
          <damping>0</damping>
          <friction>0</friction>
        </dynamics>
        <xyz>0 0 1</xyz>
        <!-- <use_parent_model_frame>false</use_parent_model_frame> -->
      </axis>
    </joint>
  </gazebo>
  <gazebo reference="r3f_finger_middle_link_paradistal_hinge_link_3_couple">
    <implicitSpringDamper>1</implicitSpringDamper>
  </gazebo>
  <gazebo>
    <joint name="r3f_finger_middle_link_paraproximal_bar_paramedian_hinge_couple" type="revolute">
      <parent>r3f_finger_middle_link_paramedian_hinge</parent>
      <child>r3f_finger_middle_link_paraproximal_bar</child>
      <pose>0.05770 0 0 0 0 0</pose>
      <axis>
        <dynamics>
          <damping>0</damping>
          <friction>0</friction>
        </dynamics>
        <xyz>0 0 1</xyz>
        <!-- <use_parent_model_frame>false</use_parent_model_frame> -->
      </axis>
    </joint>
  </gazebo>
  <gazebo reference="r3f_finger_middle_link_paraproximal_bar_paramedian_hinge_couple">
    <implicitSpringDamper>1</implicitSpringDamper>
  </gazebo>
  <!-- link list -->
  <!-- Link palm -->
  <link name="r3f_palm">
    <visual>
      <geometry>
        <mesh filename="package://robotiq_3f_gripper_visualization/meshes/robotiq-3f-gripper_articulated/visual/palm.dae"/>
      </geometry>
      <material name="green">
        <color rgba="0 1 0 1"/>
      </material>
    </visual>
    <!-- Simple shape collision -->
    <collision>
      <origin rpy="0 0 0" xyz="0 0 0"/>
      <geometry>
        <box size="0.1 0.1 0.1"/>
      </geometry>
      <material name="yellow">
        <color rgba="0 1 1 1"/>
      </material>
    </collision>
    <inertial>
      <origin rpy="0 0 0" xyz="0 0 0"/>
      <mass value="1.3"/>
      <inertia ixx="0.0035" ixy="0" ixz="-0" iyy="0.0035" iyz="0" izz="0.0035"/>
    </inertial>
  </link>
  <gazebo reference="r3f_palm">
    <mu1>1.1</mu1>
    <mu2>1.1</mu2>
  </gazebo>
  <!-- End of link list -->
  <!-- Joint list -->
  <!-- Joint palm_finger_1_joint -->
  <joint name="r3f_palm_finger_1_joint" type="revolute">
    <parent link="r3f_palm"/>
    <child link="r3f_finger_1_link_0"/>
    <dynamics damping="1" friction="0"/>
    <axis xyz="0 1 0"/>
    <origin rpy="0 3.1416 -1.57" xyz="-0.0455 0.0214 0.036"/>
    <!-- Limits: [-17deg.,17deg.] -->
    <limit effort="60" lower="-0.2967" upper="0.2967" velocity="-1"/>
  </joint>
  <gazebo reference="r3f_palm_finger_1_joint">
    <implicitSpringDamper>1</implicitSpringDamper>
  </gazebo>
  <!-- Joint palm_finger_2_joint -->
  <joint name="r3f_palm_finger_2_joint" type="revolute">
    <parent link="r3f_palm"/>
    <child link="r3f_finger_2_link_0"/>
    <dynamics damping="1" friction="0"/>
    <axis xyz="0 1 0"/>
    <origin rpy="0 3.1416 -1.57" xyz="-0.0455 0.0214 -0.036"/>
    <!-- Limits: [-17deg.,17deg.] -->
    <limit effort="60" lower="-0.2967" upper="0.2967" velocity="-1"/>
  </joint>
  <gazebo reference="r3f_palm_finger_2_joint">
    <implicitSpringDamper>1</implicitSpringDamper>
  </gazebo>
  <!-- Joint palm_finger_middle_joint -->
  <joint name="r3f_palm_finger_middle_joint" type="revolute">
    <parent link="r3f_palm"/>
    <child link="r3f_finger_middle_link_0"/>
    <dynamics damping="1" friction="0"/>
    <axis xyz="0 1 0"/>
    <origin rpy="0 0 1.57" xyz="0.0455 0.0214 0"/>
    <limit effort="60" lower="0" upper="0" velocity="-1"/>
  </joint>
  <gazebo reference="r3f_palm_finger_middle_joint">
    <implicitSpringDamper>1</implicitSpringDamper>
  </gazebo>
  <!-- end of joint list -->
  <transmission name="palm_finger_1_trans">
    <type>transmission_interface/SimpleTransmission</type>
    <joint name="r3f_palm_finger_1_joint">
      <hardwareInterface>hardware_interface/EffortJointInterface</hardwareInterface>
    </joint>
    <actuator name="palm_finger_1_motor">
      <mechanicalReduction>1</mechanicalReduction>
    </actuator>
  </transmission>
  <transmission name="finger_1_1_trans">
    <type>transmission_interface/SimpleTransmission</type>
    <joint name="r3f_finger_1_joint_1">
      <hardwareInterface>hardware_interface/EffortJointInterface</hardwareInterface>
    </joint>
    <actuator name="finger_1_1_motor">
      <mechanicalReduction>1</mechanicalReduction>
    </actuator>
  </transmission>
  <transmission name="finger_1_2_trans">
    <type>transmission_interface/SimpleTransmission</type>
    <joint name="r3f_finger_1_joint_2">
      <hardwareInterface>hardware_interface/EffortJointInterface</hardwareInterface>
    </joint>
    <actuator name="finger_1_2_motor">
      <mechanicalReduction>1</mechanicalReduction>
    </actuator>
  </transmission>
  <transmission name="finger_1_3_trans">
    <type>transmission_interface/SimpleTransmission</type>
    <joint name="r3f_finger_1_joint_3">
      <hardwareInterface>hardware_interface/EffortJointInterface</hardwareInterface>
    </joint>
    <actuator name="finger_1_3_motor">
      <mechanicalReduction>1</mechanicalReduction>
    </actuator>
  </transmission>
  <transmission name="palm_finger_2_trans">
    <type>transmission_interface/SimpleTransmission</type>
    <joint name="r3f_palm_finger_2_joint">
      <hardwareInterface>hardware_interface/EffortJointInterface</hardwareInterface>
    </joint>
    <actuator name="palm_finger_2_motor">
      <mechanicalReduction>1</mechanicalReduction>
    </actuator>
  </transmission>
  <transmission name="finger_2_1_trans">
    <type>transmission_interface/SimpleTransmission</type>
    <joint name="r3f_finger_2_joint_1">
      <hardwareInterface>hardware_interface/EffortJointInterface</hardwareInterface>
    </joint>
    <actuator name="finger_2_1_motor">
      <mechanicalReduction>1</mechanicalReduction>
    </actuator>
  </transmission>
  <transmission name="finger_2_2_trans">
    <type>transmission_interface/SimpleTransmission</type>
    <joint name="r3f_finger_2_joint_2">
      <hardwareInterface>hardware_interface/EffortJointInterface</hardwareInterface>
    </joint>
    <actuator name="finger_2_2_motor">
      <mechanicalReduction>1</mechanicalReduction>
    </actuator>
  </transmission>
  <transmission name="finger_2_3_trans">
    <type>transmission_interface/SimpleTransmission</type>
    <joint name="r3f_finger_2_joint_3">
      <hardwareInterface>hardware_interface/EffortJointInterface</hardwareInterface>
    </joint>
    <actuator name="finger_2_3_motor">
      <mechanicalReduction>1</mechanicalReduction>
    </actuator>
  </transmission>
  <transmission name="palm_finger_middle_trans">
    <type>transmission_interface/SimpleTransmission</type>
    <joint name="r3f_palm_finger_middle_joint">
      <hardwareInterface>hardware_interface/EffortJointInterface</hardwareInterface>
    </joint>
    <actuator name="palm_finger_middle_motor">
      <mechanicalReduction>1</mechanicalReduction>
    </actuator>
  </transmission>
  <transmission name="finger_middle_1_trans">
    <type>transmission_interface/SimpleTransmission</type>
    <joint name="r3f_finger_middle_joint_1">
      <hardwareInterface>hardware_interface/EffortJointInterface</hardwareInterface>
    </joint>
    <actuator name="finger_middle_1_motor">
      <mechanicalReduction>1</mechanicalReduction>
    </actuator>
  </transmission>
  <transmission name="finger_middle_2_trans">
    <type>transmission_interface/SimpleTransmission</type>
    <joint name="r3f_finger_middle_joint_2">
      <hardwareInterface>hardware_interface/EffortJointInterface</hardwareInterface>
    </joint>
    <actuator name="finger_middle_2_motor">
      <mechanicalReduction>1</mechanicalReduction>
    </actuator>
  </transmission>
  <transmission name="finger_middle_3_trans">
    <type>transmission_interface/SimpleTransmission</type>
    <joint name="r3f_finger_middle_joint_3">
      <hardwareInterface>hardware_interface/EffortJointInterface</hardwareInterface>
    </joint>
    <actuator name="finger_middle_3_motor">
      <mechanicalReduction>1</mechanicalReduction>
    </actuator>
  </transmission>
  <link name="world"/>
  <joint name="world_joint" type="fixed">
    <parent link="world"/>
    <child link="base_link"/>
    <origin rpy="0.0 0.0 0.0" xyz="0.0 0.0 0.0"/>
  </joint>
</robot>
